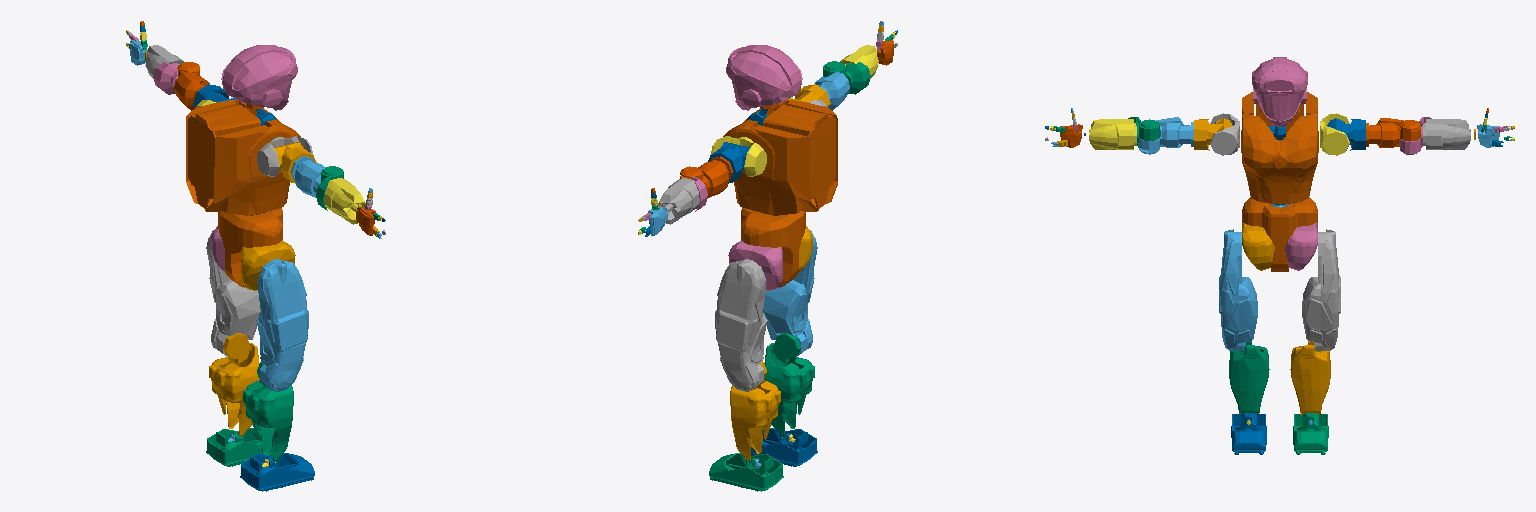
--- Render facts (derived) ---
Views: 3 orthographic renders of the robot side by side, from view 1: azimuth 30°, elevation 25°; view 2: azimuth 150°, elevation 25°; view 3: azimuth 270°, elevation 25°.
Robot: valkyrie — 87 links, 86 joints (30 revolute, 56 fixed); root link pelvis; default pose: all joints at 0.
Visible links, largest first — view 1: torso, rightHipPitchLink, upperNeckPitchLink, leftKneePitchLink, leftHipPitchLink, rightKneePitchLink, pelvis, rightFoot, leftFoot, rightHipRollLink, rightForearmLink, leftShoulderYawLink (+5 smaller); view 2: torso, leftHipPitchLink, upperNeckPitchLink, rightKneePitchLink, rightHipPitchLink, leftKneePitchLink, pelvis, leftFoot, rightFoot, leftHipRollLink, leftForearmLink, leftShoulderYawLink (+5 smaller); view 3: torso, rightHipPitchLink, leftHipPitchLink, upperNeckPitchLink, pelvis, rightKneePitchLink, leftKneePitchLink, leftForearmLink, rightForearmLink, rightFoot, leftFoot, leftShoulderYawLink (+7 smaller).
Boxes of the visible links, x1,y1,x2,y2 form: torso: (186,99,300,215); rightHipPitchLink: (256,259,308,391); upperNeckPitchLink: (221,45,297,110); leftKneePitchLink: (209,333,259,435); leftHipPitchLink: (206,230,260,357); rightKneePitchLink: (243,361,293,460); pelvis: (218,208,282,287); rightFoot: (240,453,314,491); leftFoot: (206,428,272,466); rightHipRollLink: (241,240,295,290); rightForearmLink: (324,178,365,224); leftShoulderYawLink: (174,62,209,110); torso: (723,99,837,215); leftHipPitchLink: (715,259,767,391); upperNeckPitchLink: (726,45,802,110); rightKneePitchLink: (764,333,814,435); rightHipPitchLink: (763,230,817,357); leftKneePitchLink: (730,361,780,460); pelvis: (741,208,805,287); leftFoot: (709,453,783,491); rightFoot: (751,428,817,466); leftHipRollLink: (728,240,782,290); leftForearmLink: (658,178,699,224); leftShoulderYawLink: (680,156,732,197); torso: (1241,92,1318,203); rightHipPitchLink: (1219,229,1257,350); leftHipPitchLink: (1302,229,1340,350); upperNeckPitchLink: (1252,57,1307,126); pelvis: (1242,197,1317,271); rightKneePitchLink: (1229,341,1269,415); leftKneePitchLink: (1290,341,1330,415); leftForearmLink: (1423,119,1470,149); rightForearmLink: (1089,119,1136,149); rightFoot: (1231,413,1266,454); leftFoot: (1293,413,1328,454); leftShoulderYawLink: (1366,118,1420,147).
Bounding box of the posed robot: 0.4375 × 2.09 × 1.88 m (x, y, z).
52 mesh visuals loaded from 58 distinct referenced files (50 binary STL); not drawn: 8 (reference not matched to a file when rendering).

The robot description file, URDF, robot "valkyrie":
<?xml version="1.0" ?>

<!-- ================================================================================================ -->
<!-- Note: This URDF file and associated content are based on files from the GitHub repository below. -->
<!--       Geometry files were converted as necessary to a format supported by Simscape Multibody.    -->
<!--       Adjustments were made to the URDF file for compatibility with Simscape Multibody.          -->
<!--                                                                                                  -->
<!--  GitHub source: https://github.com/RobotLocomotion/drake/tree/3b059f6168c9adce908ac6bbf98e4efdd1af4d6a/ -->
<!-- ================================================================================================ -->

<!-- =================================================================================== -->
<!-- |    This document was autogenerated by xacro from valkyrie_A_sim.xacro           | -->
<!-- |    EDITING THIS FILE BY HAND IS NOT RECOMMENDED                                 | -->
<!-- =================================================================================== -->
<robot name="valkyrie" xmlns:xacro="http://ros.org/wiki/xacro">
  <link name="pelvis">
    <inertial>
      <mass value="8.22"/>
      <origin rpy="0 0 0" xyz="-0.00532 -0.003512 -0.0036"/>
      <inertia ixx="0.11866378" ixy="-0.000143482" ixz="0.003271293" iyy="0.097963425" iyz="0.002159545" izz="0.083854638"/>
    </inertial>
    <visual>
      <geometry>
        <mesh filename="valkyrie_pelvis.stl"/>
      </geometry>
      <material name="">
        <color rgba="0.8 0.4 0.03 1" />
      </material>
      <origin rpy="0.0 0.0 0.0" xyz="0.0 0.0 0.0"/>
    </visual>
    <collision>
      <geometry>
        <mesh filename="package://valkyrie/urdf/model/meshes/pelvis/pelvis.dae"/>
      </geometry>
      <origin rpy="0 0 0" xyz="0 0 0"/>
    </collision>
  </link>
  <link name="torsoYawLink">
    <inertial>
      <mass value="0.5"/>
      <origin rpy="0 0 0" xyz="0.000000 0.000000 -0.010000"/>
      <inertia ixx="0.000608427" ixy="-1.172e-06" ixz="1.647e-06" iyy="0.000620328" iyz="-2.33e-07" izz="0.001078108"/>
    </inertial>
    <visual>
      <geometry>
        <mesh filename="valkyrie_torsoyaw.stl"/>
      </geometry>
      <origin rpy="0.0 0.0 0.0" xyz="0.0 0.0 0.0"/>
    </visual>
    <collision>
      <geometry>
        <mesh filename="package://valkyrie/urdf/model/meshes/torso/torsoyaw.dae"/>
      </geometry>
      <origin rpy="0 0 0" xyz="0 0 0"/>
    </collision>
  </link>
  <link name="torsoPitchLink">
    <inertial>
      <mass value="0.1"/>
      <origin rpy="0 0 0" xyz="0.000000 0.000000  0.005000"/>
      <inertia ixx="3.032e-05" ixy="0.0" ixz="-1.145e-06" iyy="2.1274e-05" iyz="0.0" izz="2.8285e-05"/>
    </inertial>
    <visual>
      <geometry>
        <mesh filename="valkyrie_torsopitch.stl"/>
      </geometry>
      <origin rpy="0.0 0.0 0.0" xyz="0.0 0.0 0.0"/>
    </visual>
    <collision>
      <geometry>
        <mesh filename="package://valkyrie/urdf/model/meshes/torso/torsopitch.dae"/>
      </geometry>
      <origin rpy="0 0 0" xyz="0 0 0"/>
    </collision>
  </link>
  <link name="torso">
    <inertial>
      <mass value="39.47"/>
      <origin rpy="0 0 0" xyz="-0.095548 -0.003337 0.243098"/>
      <inertia ixx="0.87326933" ixy="9.9563e-05" ixz="0.061345211" iyy="1.0108485" iyz="0.00181849" izz="0.77839801"/>
    </inertial>
    <visual>
      <geometry>
        <mesh filename="valkyrie_torso.stl"/>
      </geometry>
      <material name="">
        <color rgba="0.8 0.4 0.03 1" />
      </material>
      <origin rpy="0.0 0.0 0.0" xyz="0.0 0.0 0.0"/>
    </visual>
    <collision>
      <geometry>
        <mesh filename="package://valkyrie/urdf/model/meshes/torso/torso.dae"/>
      </geometry>
      <origin rpy="0 0 0" xyz="0 0 0"/>
    </collision>
  </link>
  <joint name="torsoYaw" type="revolute">
    <origin rpy="0.0 0.0 0.0" xyz="0.0 0.0 0.0"/>
    <axis xyz="0 0 1"/>
    <parent link="pelvis"/>
    <child link="torsoYawLink"/>
    <limit effort="190" lower="-1.329" upper="1.181" velocity="5.89"/>
    <controller_gains Kd="400" Kp="20000"/>
    <dynamics damping="0.1" friction="0.0"/>
  </joint>
  <gazebo reference="torsoYaw">
    <provideFeedback>1</provideFeedback>
    <implicitSpringDamper>1</implicitSpringDamper>
  </gazebo>
  <joint name="torsoPitch" type="revolute">
    <origin rpy="0.0 0.0 0.0" xyz="0.04191 0.0 0.0"/>
    <axis xyz="0 1 0"/>
    <parent link="torsoYawLink"/>
    <child link="torsoPitchLink"/>
    <limit effort="150" lower="-0.13" upper="0.666" velocity="9"/>
    <controller_gains Kd="400" Kp="20000"/>
    <dynamics damping="0.1" friction="0.0"/>
  </joint>
  <gazebo reference="torsoPitch">
    <provideFeedback>1</provideFeedback>
    <implicitSpringDamper>1</implicitSpringDamper>
  </gazebo>
  <joint name="torsoRoll" type="revolute">
    <origin rpy="0.0 0.0 0.0" xyz="0.0 0.0 0.0203"/>
    <axis xyz="1 0 0"/>
    <parent link="torsoPitchLink"/>
    <child link="torso"/>
    <limit effort="150" lower="-0.23" upper="0.255" velocity="9"/>
    <controller_gains Kd="400" Kp="20000"/>
    <dynamics damping="0.1" friction="0.0"/>
  </joint>
  <gazebo reference="torsoRoll">
    <provideFeedback>1</provideFeedback>
    <implicitSpringDamper>1</implicitSpringDamper>
  </gazebo>
  <link name="lowerNeckPitchLink">
    <inertial>
      <mass value="1.05"/>
      <origin rpy="0 0 0" xyz="-0.020000 0.000000  0.040000"/>
      <inertia ixx="0.001470716" ixy="-0.000126021" ixz="0.000632521" iyy="0.001851919" iyz="0.000243012" izz="0.000832117"/>
    </inertial>
    <visual>
      <geometry>
        <mesh filename="valkyrie_neckj1.stl"/>
      </geometry>
      <origin rpy="0.0 0.0 0.0" xyz="0.0 0.0 0.0"/>
    </visual>
    <collision>
      <geometry>
        <mesh filename="package://valkyrie/urdf/model/meshes/head/neckj1.dae"/>
      </geometry>
      <origin rpy="0 0 0" xyz="0 0 0"/>
    </collision>
  </link>
  <link name="neckYawLink">
    <inertial>
      <mass value="1.4"/>
      <origin rpy="0 0 0" xyz="-0.030000  -0.010000 0.150000"/>
      <inertia ixx="0.001997698" ixy="-0.000180062" ixz="0.000723677" iyy="0.002919928" iyz="0.000246467" izz="0.002119751"/>
    </inertial>
    <visual>
      <geometry>
        <mesh filename="valkyrie_neckj2.stl"/>
      </geometry>
      <origin rpy="0.0 0.0 0.0" xyz="0.0 0.0 0.0"/>
    </visual>
    <collision>
      <geometry>
        <mesh filename="package://valkyrie/urdf/model/meshes/head/neckj2.dae"/>
      </geometry>
      <origin rpy="0 0 0" xyz="0 0 0"/>
    </collision>
  </link>
  <link name="upperNeckPitchLink">
    <inertial>
      <mass value="4.59"/>
      <origin rpy="0 0 0" xyz="0.100912 0.005783 0.034787"/>
      <inertia ixx="0.039847525" ixy="-0.000470418" ixz="-0.002829842" iyy="0.041418564" iyz="-0.000782564" izz="0.036841236"/>
    </inertial>
    <visual>
      <geometry>
        <mesh filename="valkyrie_head_multisense.stl"/>
      </geometry>
      <origin rpy="0.0 0.0 0.0" xyz="0.0 0.0 0.0"/>
    </visual>
    <collision>
      <geometry>
        <mesh filename="package://valkyrie/urdf/model/meshes/head/head_multisense_no_visor.dae"/>
      </geometry>
      <origin rpy="0 0 0" xyz="0 0 0"/>
    </collision>
  </link>
  <joint name="lowerNeckPitch" type="revolute">
    <origin rpy="0.0 0.0 0.0" xyz="0.0203518 0.0 0.33845"/>
    <axis xyz="0 1 0"/>
    <parent link="torso"/>
    <child link="lowerNeckPitchLink"/>
    <limit effort="26" lower="0" upper="1.162" velocity="5"/>
    <controller_gains Kd="0" Kp="20000"/>
    <dynamics damping="0.1" friction="0.0"/>
  </joint>
  <gazebo reference="lowerNeckPitch">
    <provideFeedback>1</provideFeedback>
    <implicitSpringDamper>1</implicitSpringDamper>
  </gazebo>
  <joint name="neckYaw" type="fixed">
    <origin rpy="0.0 0.0 0.0" xyz="-0.051924 0.0 0.0"/>
    <axis xyz="0 0 1"/>
    <parent link="lowerNeckPitchLink"/>
    <child link="neckYawLink"/>
    <limit effort="26" lower="-1.04719755" upper="1.04719755" velocity="5"/>
    <controller_gains Kd="0" Kp="20000"/>
    <dynamics damping="0.1" friction="0.0"/>
  </joint>
  <gazebo reference="neckYaw">
    <provideFeedback>1</provideFeedback>
    <implicitSpringDamper>1</implicitSpringDamper>
  </gazebo>
  <joint name="upperNeckPitch" type="fixed">
    <origin rpy="0.0 0.0 0.0" xyz="-0.06 0 0.195997"/>
    <axis xyz="0 1 0"/>
    <parent link="neckYawLink"/>
    <child link="upperNeckPitchLink"/>
    <limit effort="26" lower="-0.872" upper="0.0" velocity="5"/>
    <controller_gains Kd="0" Kp="20000"/>
    <dynamics damping="0.1" friction="0.0"/>
  </joint>
  <gazebo reference="upperNeckPitch">
    <provideFeedback>1</provideFeedback>
    <implicitSpringDamper>1</implicitSpringDamper>
  </gazebo>
  <link name="rightShoulderPitchLink">
    <inertial>
      <mass value="2.65"/>
      <origin rpy="0 0 0" xyz="-0.012000 -0.251 0.000000"/>
      <inertia ixx="0.013718167" ixy="0.0" ixz="0.0" iyy="0.010502833" iyz="0.0" izz="0.014806433"/>
    </inertial>
    <visual>
      <geometry>
        <mesh filename="valkyrie_aj1_right.stl"/>
      </geometry>
      <origin rpy="0.0 0.0 0.0" xyz="0.0 0.0 0.0"/>
    </visual>
    <collision>
      <geometry>
        <mesh filename="package://valkyrie/urdf/model/meshes/arms/aj1_right.dae"/>
      </geometry>
      <origin rpy="0 0 0" xyz="0 0 0"/>
    </collision>
  </link>
  <link name="rightShoulderRollLink">
    <inertial>
      <mass value="3.97"/>
      <origin rpy="0 0 0" xyz="-0.008513 -0.02068 0.001088"/>
      <inertia ixx="0.009494119" ixy="-6.7294e-05" ixz="3.7177e-05" iyy="0.007680534" iyz="8.874e-06" izz="0.011454772"/>
    </inertial>
    <visual>
      <geometry>
        <mesh filename="valkyrie_aj2_right.stl"/>
      </geometry>
      <origin rpy="0.0 0.0 0.0" xyz="0.0 0.0 0.0"/>
    </visual>
    <collision>
      <geometry>
        <mesh filename="package://valkyrie/urdf/model/meshes/arms/aj2_right.dae"/>
      </geometry>
      <origin rpy="0 0 0" xyz="0 0 0"/>
    </collision>
  </link>
  <link name="rightShoulderYawLink">
    <inertial>
      <mass value="3.085"/>
      <origin rpy="0 0 0" xyz="-0.004304 -0.209832 -0.007295"/>
      <inertia ixx="0.039355177" ixy="0.007827077" ixz="0.000753947" iyy="0.004905765" iyz="0.002723873" izz="0.041879481"/>
    </inertial>
    <visual>
      <geometry>
        <mesh filename="valkyrie_aj3_right.stl"/>
      </geometry>
      <origin rpy="0.0 0.0 0.0" xyz="0.0 0.0 0.0"/>
    </visual>
    <collision>
      <geometry>
        <mesh filename="package://valkyrie/urdf/model/meshes/arms/aj3_right.dae"/>
      </geometry>
      <origin rpy="0 0 0" xyz="0 0 0"/>
    </collision>
  </link>
  <link name="rightElbowPitchLink">
    <inertial>
      <mass value="1.83"/>
      <origin rpy="0 0 0" xyz="-0.020344 -0.014722 -0.022300"/>
      <inertia ixx="0.004285137" ixy="0.000408334" ixz="-0.003326627" iyy="0.008440601" iyz="0.000140731" izz="0.007469454"/>
    </inertial>
    <visual>
      <geometry>
        <mesh filename="valkyrie_aj4_right.stl"/>
      </geometry>
      <origin rpy="0.0 0.0 0.0" xyz="0.0 0.0 0.0"/>
    </visual>
    <collision>
      <geometry>
        <mesh filename="package://valkyrie/urdf/model/meshes/arms/aj4_right.dae"/>
      </geometry>
      <origin rpy="0 0 0" xyz="0 0 0"/>
    </collision>
  </link>
  <joint name="rightShoulderPitch" type="revolute">
    <origin rpy="0.0 0.0 0.0" xyz="-0.0316 0.0 0.2984"/>
    <axis xyz="0 1 0"/>
    <parent link="torso"/>
    <child link="rightShoulderPitchLink"/>
    <limit effort="190" lower="-2.85" upper="2.0" velocity="5.89"/>
    <controller_gains Kd="400" Kp="20000"/>
    <dynamics damping="0.1" friction="0.0"/>
  </joint>
  <gazebo reference="rightShoulderPitch">
    <provideFeedback>1</provideFeedback>
    <implicitSpringDamper>1</implicitSpringDamper>
  </gazebo>
  <joint name="rightShoulderRoll" type="revolute">
    <origin rpy="0.0 0.0 0.0" xyz="0.0 -0.2499 0.0"/>
    <axis xyz="1 0 0"/>
    <parent link="rightShoulderPitchLink"/>
    <child link="rightShoulderRollLink"/>
    <limit effort="190" lower="-1.266" upper="1.519" velocity="5.89"/>
    <controller_gains Kd="400" Kp="20000"/>
    <dynamics damping="0.1" friction="0.0"/>
  </joint>
  <gazebo reference="rightShoulderRoll">
    <provideFeedback>1</provideFeedback>
    <implicitSpringDamper>1</implicitSpringDamper>
  </gazebo>
  <joint name="rightShoulderYaw" type="revolute">
    <origin rpy="0.0 0.0 0.0" xyz="0.0 0.0 0.0"/>
    <axis xyz="0 1 0"/>
    <parent link="rightShoulderRollLink"/>
    <child link="rightShoulderYawLink"/>
    <limit effort="65" lower="-3.1" upper="2.18" velocity="11.5"/>
    <controller_gains Kd="400" Kp="20000"/>
    <dynamics damping="0.1" friction="0.0"/>
  </joint>
  <gazebo reference="rightShoulderYaw">
    <provideFeedback>1</provideFeedback>
    <implicitSpringDamper>1</implicitSpringDamper>
  </gazebo>
  <joint name="rightElbowPitch" type="revolute">
    <origin rpy="0.0 0.0 0.0" xyz="0.0254 -0.33 0.0"/>
    <axis xyz="0 0 1"/>
    <parent link="rightShoulderYawLink"/>
    <child link="rightElbowPitchLink"/>
    <limit effort="65" lower="-0.12" upper="2.174" velocity="11.5"/>
    <controller_gains Kd="400" Kp="20000"/>
    <dynamics damping="0.1" friction="0.0"/>
  </joint>
  <gazebo reference="rightElbowPitch">
    <provideFeedback>1</provideFeedback>
    <implicitSpringDamper>1</implicitSpringDamper>
  </gazebo>
  <link name="rightForearmLink">
    <inertial>
      <mass value="2.476"/>
      <origin rpy="0 0 0" xyz="0.015000 -0.13 0.019564"/>
      <inertia ixx="0.015011" ixy="-0.001300853" ixz="-0.000727141" iyy="0.005071567" iyz="-0.001695416" izz="0.011365657"/>
    </inertial>
    <visual>
      <geometry>
        <mesh filename="valkyrie_aj5_right.stl"/>
      </geometry>
      <origin rpy="0.0 0.0 0.0" xyz="0.0 0.0 0.0"/>
    </visual>
    <collision>
      <geometry>
        <mesh filename="package://valkyrie/urdf/model/meshes/arms/aj5_right.dae"/>
      </geometry>
      <origin rpy="0 0 0" xyz="0 0 0"/>
    </collision>
  </link>
  <link name="rightWristRollLink">
    <inertial>
      <mass value="0.14"/>
      <origin rpy="0 0 0" xyz="0 -0.0 0"/>
      <inertia ixx="3.0251e-05" ixy="-1.25e-07" ixz="-3.6e-08" iyy="3.772e-05" iyz="0.0" izz="9.395e-06"/>
    </inertial>
    <visual>
      <geometry>
        <mesh filename="valkyrie_aj6_right.stl"/>
      </geometry>
      <origin rpy="0.0 0.0 0.0" xyz="0.0 0.0 0.0"/>
    </visual>
    <collision>
      <geometry>
        <mesh filename="package://valkyrie/urdf/model/meshes/arms/aj6_right.dae"/>
      </geometry>
      <origin rpy="0 0 0" xyz="0 0 0"/>
    </collision>
  </link>
  <link name="rightPalm">
    <inertial>
      <mass value="0.712"/>
      <origin rpy="0 0 0" xyz="0.002954 -0.052034 -0.000236"/>
      <inertia ixx="0.000943493" ixy="3.4393e-05" ixz="-3.8828e-05" iyy="0.000711024" iyz="2.3429e-05" izz="0.000610199"/>
    </inertial>
    <visual>
      <geometry>
        <mesh filename="valkyrie_palm_right.stl"/>
      </geometry>
      <origin rpy="0.0 0.0 0.0" xyz="0.0 0.0 0.0"/>
    </visual>
    <collision>
      <geometry>
        <mesh filename="package://valkyrie/urdf/model/meshes/arms/palm_right.dae"/>
      </geometry>
      <origin rpy="0 0 0" xyz="0 0 0"/>
    </collision>
  </link>
  <joint name="rightForearmYaw" type="revolute">
    <origin rpy="0.0 0.0 0.0" xyz="-0.0254 0 0"/>
    <axis xyz="0 1 0"/>
    <parent link="rightElbowPitchLink"/>
    <child link="rightForearmLink"/>
    <limit effort="26" lower="-2.019" upper="3.14" velocity="5"/>
    <controller_gains Kd="0" Kp="20000"/>
    <dynamics damping="0.1" friction="0.0"/>
  </joint>
  <gazebo reference="rightForearmYaw">
    <provideFeedback>1</provideFeedback>
    <implicitSpringDamper>1</implicitSpringDamper>
  </gazebo>
  <joint name="rightWristRoll" type="revolute">
    <origin rpy="0.0 0.0 0.0" xyz="0.0 -0.2871 0.0"/>
    <axis xyz="1 0 0"/>
    <parent link="rightForearmLink"/>
    <child link="rightWristRollLink"/>
    <limit effort="14" lower="-0.625" upper="0.62" velocity="1"/>
    <controller_gains Kd="400" Kp="20000"/>
    <dynamics damping="0.1" friction="0.0"/>
  </joint>
  <gazebo reference="rightWristRoll">
    <provideFeedback>1</provideFeedback>
    <implicitSpringDamper>1</implicitSpringDamper>
  </gazebo>
  <joint name="rightWristPitch" type="revolute">
    <origin rpy="0.0 0.0 0.0" xyz="0.0 0.0 0.0"/>
    <axis xyz="0 0 1"/>
    <parent link="rightWristRollLink"/>
    <child link="rightPalm"/>
    <limit effort="14" lower="-0.49" upper="0.36" velocity="1"/>
    <controller_gains Kd="400" Kp="20000"/>
    <dynamics damping="0.1" friction="0.0"/>
  </joint>
  <gazebo reference="rightWristPitch">
    <provideFeedback>1</provideFeedback>
    <implicitSpringDamper>1</implicitSpringDamper>
  </gazebo>
  <link name="rightThumbRollLink">
    <inertial>
      <mass value="0.017"/>
      <origin rpy="0 0 0" xyz="0 -0.0 0.01"/>
      <inertia ixx="2.7778767e-06" ixy="5.6718533e-09" ixz="-9.5523207e-08" iyy="3.5462642e-06" iyz="3.663718e-08" izz="1.3553297e-06"/>
    </inertial>
    <visual>
      <geometry>
        <mesh filename="valkyrie_thumbj1_right.stl"/>
      </geometry>
      <origin rpy="0.0 0.0 0.0" xyz="0.0 0.0 0.0"/>
    </visual>
    <collision>
      <geometry>
        <mesh filename="package://valkyrie/urdf/model/meshes/fingers/thumbj1_right.dae"/>
      </geometry>
      <origin rpy="0 0 0" xyz="0 0 0"/>
    </collision>
  </link>
  <link name="rightThumbPitch1Link">
    <inertial>
      <mass value="0.02"/>
      <origin rpy="0 0 0" xyz="0.0 -0.005 0.02"/>
      <inertia ixx="4.239e-06" ixy="0.0" ixz="-0.0" iyy="4.582e-06" iyz="0.0" izz="1.47e-06"/>
    </inertial>
    <visual>
      <geometry>
        <mesh filename="valkyrie_thumbj2_right.stl"/>
      </geometry>
      <origin rpy="0.0 0.0 0.0" xyz="0.0 0.0 0.0"/>
    </visual>
    <collision>
      <geometry>
        <mesh filename="package://valkyrie/urdf/model/meshes/fingers/thumbj2_right.dae"/>
      </geometry>
      <origin rpy="0 0 0" xyz="0 0 0"/>
    </collision>
  </link>
  <link name="rightThumbPitch2Link">
    <inertial>
      <mass value="0.013"/>
      <origin rpy="0 0 0" xyz="0 -0.004 0.017"/>
      <inertia ixx="1.266e-06" ixy="0.0" ixz="-0.0" iyy="1.503e-06" iyz="-0.0" izz="6.99e-07"/>
    </inertial>
    <visual>
      <geometry>
        <mesh filename="valkyrie_thumbj3_right.stl"/>
      </geometry>
      <origin rpy="0.0 0.0 0.0" xyz="0.0 0.0 0.0"/>
    </visual>
    <collision>
      <geometry>
        <mesh filename="package://valkyrie/urdf/model/meshes/fingers/thumbj3_right.dae"/>
      </geometry>
      <origin rpy="0 0 0" xyz="0 0 0"/>
    </collision>
  </link>
  <link name="rightThumbPitch3Link">
    <inertial>
      <mass value="0.006"/>
      <origin rpy="0 0 0" xyz="0 -0.004 0.01"/>
      <inertia ixx="3.22e-07" ixy="0.0" ixz="0.0" iyy="4.06e-07" iyz="0.0" izz="2.1e-07"/>
    </inertial>
    <visual>
      <geometry>
        <mesh filename="valkyrie_thumbj4_right.stl"/>
      </geometry>
      <origin rpy="0.0 0.0 0.0" xyz="0.0 0.0 0.0"/>
    </visual>
    <collision>
      <geometry>
        <mesh filename="package://valkyrie/urdf/model/meshes/fingers/thumbj4_right.dae"/>
      </geometry>
      <origin rpy="0 0 0" xyz="0 0 0"/>
    </collision>
  </link>
  <joint name="rightThumbRoll" type="fixed">
    <origin rpy="0.3491 0.0 0.0" xyz="0.0049 -0.0351 0.0228"/>
    <axis xyz="0 0 1"/>
    <parent link="rightPalm"/>
    <child link="rightThumbRollLink"/>
  </joint>
  <gazebo reference="rightThumbRoll">
    <implicitSpringDamper>1</implicitSpringDamper>
  </gazebo>
  <joint name="rightThumbPitch1" type="fixed">
    <origin rpy="-0.3491 0.0 0.0" xyz="0.0 0.0 0.0229"/>
    <axis xyz="0 0 1"/>
    <parent link="rightThumbRollLink"/>
    <child link="rightThumbPitch1Link"/>
  </joint>
  <gazebo reference="rightThumbPitch1">
    <implicitSpringDamper>1</implicitSpringDamper>
  </gazebo>
  <joint name="rightThumbPitch2" type="fixed">
    <origin rpy="0.0 0.0 0.0" xyz="0.0 -0.0066 0.0375"/>
    <axis xyz="0 0 1"/>
    <parent link="rightThumbPitch1Link"/>
    <child link="rightThumbPitch2Link"/>
  </joint>
  <gazebo reference="rightThumbPitch2">
    <implicitSpringDamper>1</implicitSpringDamper>
  </gazebo>
  <joint name="rightThumbPitch3" type="fixed">
    <origin rpy="0.0 0.0 0.0" xyz="0.0 -0.0049 0.0275"/>
    <axis xyz="0 0 1"/>
    <parent link="rightThumbPitch2Link"/>
    <child link="rightThumbPitch3Link"/>
  </joint>
  <gazebo reference="rightThumbPitch3">
    <implicitSpringDamper>1</implicitSpringDamper>
  </gazebo>
  <link name="rightIndexFingerPitch1Link">
    <inertial>
      <mass value="0.02"/>
      <origin rpy="0 0 0" xyz="0 -0.02 0"/>
      <inertia ixx="4.232e-06" ixy="-6e-08" ixz="-8e-09" iyy="1.215e-06" iyz="-7e-09" izz="3.892e-06"/>
    </inertial>
    <visual>
      <geometry>
        <mesh filename="valkyrie_indexj1_right.stl"/>
      </geometry>
      <origin rpy="0.0 0.0 0.0" xyz="0.0 0.0 0.0"/>
    </visual>
    <collision>
      <geometry>
        <mesh filename="package://valkyrie/urdf/model/meshes/fingers/indexj1_right.dae"/>
      </geometry>
      <origin rpy="0 0 0" xyz="0 0 0"/>
    </collision>
  </link>
  <link name="rightIndexFingerPitch2Link">
    <inertial>
      <mass value="0.018"/>
      <origin rpy="0 0 0" xyz="0 -0.013 0"/>
      <inertia ixx="1.562e-06" ixy="-1.7e-08" ixz="-1.3e-08" iyy="7.22e-07" iyz="3.1e-08" izz="1.255e-06"/>
    </inertial>
    <visual>
      <geometry>
        <mesh filename="valkyrie_indexj2_right.stl"/>
      </geometry>
      <origin rpy="0.0 0.0 0.0" xyz="0.0 0.0 0.0"/>
    </visual>
    <collision>
      <geometry>
        <mesh filename="package://valkyrie/urdf/model/meshes/fingers/indexj2_right.dae"/>
      </geometry>
      <origin rpy="0 0 0" xyz="0 0 0"/>
    </collision>
  </link>
  <link name="rightIndexFingerPitch3Link">
    <inertial>
      <mass value="0.01"/>
      <origin rpy="0 0 0" xyz="0 -0.01 0"/>
      <inertia ixx="6.02e-07" ixy="-2.4e-08" ixz="0.0" iyy="2.09e-07" iyz="1.7e-08" izz="5.02e-07"/>
    </inertial>
    <visual>
      <geometry>
        <mesh filename="valkyrie_indexj3_right.stl"/>
      </geometry>
      <origin rpy="0.0 0.0 0.0" xyz="0.0 0.0 0.0"/>
    </visual>
    <collision>
      <geometry>
        <mesh filename="package://valkyrie/urdf/model/meshes/fingers/indexj3_right.dae"/>
      </geometry>
      <origin rpy="0 0 0" xyz="0 0 0"/>
    </collision>
  </link>
  <joint name="rightIndexFingerPitch1" type="fixed">
    <origin rpy="-0.1745 0.0 0.0" xyz="0.0022 -0.0976 0.0235"/>
    <axis xyz="0 0 1"/>
    <parent link="rightPalm"/>
    <child link="rightIndexFingerPitch1Link"/>
  </joint>
  <gazebo reference="rightIndexFingerPitch1">
    <implicitSpringDamper>1</implicitSpringDamper>
  </gazebo>
  <joint name="rightIndexFingerPitch2" type="fixed">
    <origin rpy="0.0 0.0 0.0" xyz="0.0 -0.0381 0.0"/>
    <axis xyz="0 0 1"/>
    <parent link="rightIndexFingerPitch1Link"/>
    <child link="rightIndexFingerPitch2Link"/>
  </joint>
  <gazebo reference="rightIndexFingerPitch2">
    <implicitSpringDamper>1</implicitSpringDamper>
  </gazebo>
  <joint name="rightIndexFingerPitch3" type="fixed">
    <origin rpy="0.0 0.0 0.0" xyz="0.0 -0.0229 0"/>
    <axis xyz="0 0 1"/>
    <parent link="rightIndexFingerPitch2Link"/>
    <child link="rightIndexFingerPitch3Link"/>
  </joint>
  <gazebo reference="rightIndexFingerPitch3">
    <implicitSpringDamper>1</implicitSpringDamper>
  </gazebo>
  <link name="rightMiddleFingerPitch1Link">
    <inertial>
      <mass value="0.02"/>
      <origin rpy="0 0 0" xyz="0 -0.02 0"/>
      <inertia ixx="5.148e-06" ixy="-4.2e-08" ixz="-1.1e-08" iyy="1.322e-06" iyz="-4e-09" izz="4.592e-06"/>
    </inertial>
    <visual>
      <geometry>
        <mesh filename="valkyrie_middlej1_right.stl"/>
      </geometry>
      <origin rpy="0.0 0.0 0.0" xyz="0.0 0.0 0.0"/>
    </visual>
    <collision>
      <geometry>
        <mesh filename="package://valkyrie/urdf/model/meshes/fingers/middlej1_right.dae"/>
      </geometry>
      <origin rpy="0 0 0" xyz="0 0 0"/>
    </collision>
  </link>
  <link name="rightMiddleFingerPitch2Link">
    <inertial>
      <mass value="0.011"/>
      <origin rpy="0 0 0" xyz="0 -0.013 0"/>
      <inertia ixx="1.97e-06" ixy="3.4e-08" ixz="-1.1e-08" iyy="5.54e-07" iyz="-7.8e-08" izz="2.272e-06"/>
    </inertial>
    <visual>
      <geometry>
        <mesh filename="valkyrie_middlej2_right.stl"/>
      </geometry>
      <origin rpy="0.0 0.0 0.0" xyz="0.0 0.0 0.0"/>
    </visual>
    <collision>
      <geometry>
        <mesh filename="package://valkyrie/urdf/model/meshes/fingers/middlej2_right.dae"/>
      </geometry>
      <origin rpy="0 0 0" xyz="0 0 0"/>
    </collision>
  </link>
  <link name="rightMiddleFingerPitch3Link">
    <inertial>
      <mass value="0.006"/>
      <origin rpy="0 0 0" xyz="0 -0.01 0"/>
      <inertia ixx="3.96e-07" ixy="-9e-09" ixz="-1e-09" iyy="1.6e-07" iyz="1.6e-08" izz="3.03e-07"/>
    </inertial>
    <visual>
      <geometry>
        <mesh filename="valkyrie_middlej3_right.stl"/>
      </geometry>
      <origin rpy="0.0 0.0 0.0" xyz="0.0 0.0 0.0"/>
    </visual>
    <collision>
      <geometry>
        <mesh filename="package://valkyrie/urdf/model/meshes/fingers/middlej3_right.dae"/>
      </geometry>
      <origin rpy="0 0 0" xyz="0 0 0"/>
    </collision>
  </link>
  <joint name="rightMiddleFingerPitch1" type="fixed">
    <origin rpy="0.1222 0.0 0.0" xyz="0.0022 -0.097 -0.0119"/>
    <axis xyz="0 0 1"/>
    <parent link="rightPalm"/>
    <child link="rightMiddleFingerPitch1Link"/>
  </joint>
  <gazebo reference="rightMiddleFingerPitch1">
    <implicitSpringDamper>1</implicitSpringDamper>
  </gazebo>
  <joint name="rightMiddleFingerPitch2" type="fixed">
    <origin rpy="0.0 0.0 0.0" xyz="0.0 -0.0381 0.0"/>
    <axis xyz="0 0 1"/>
    <parent link="rightMiddleFingerPitch1Link"/>
    <child link="rightMiddleFingerPitch2Link"/>
  </joint>
  <gazebo reference="rightMiddleFingerPitch2">
    <implicitSpringDamper>1</implicitSpringDamper>
  </gazebo>
  <joint name="rightMiddleFingerPitch3" type="fixed">
    <origin rpy="0.0 0.0 0.0" xyz="0.0 -0.0229 0.0"/>
    <axis xyz="0 0 1"/>
    <parent link="rightMiddleFingerPitch2Link"/>
    <child link="rightMiddleFingerPitch3Link"/>
  </joint>
  <gazebo reference="rightMiddleFingerPitch3">
    <implicitSpringDamper>1</implicitSpringDamper>
  </gazebo>
  <link name="rightPinkyPitch1Link">
    <inertial>
      <mass value="0.02"/>
      <origin rpy="0 0 0" xyz="0 -0.02 0"/>
      <inertia ixx="5.148e-06" ixy="-4.2e-08" ixz="-1.1e-08" iyy="1.322e-06" iyz="-4e-09" izz="4.592e-06"/>
    </inertial>
    <visual>
      <geometry>
        <mesh filename="valkyrie_pinkyj1_right.stl"/>
      </geometry>
      <origin rpy="0.0 0.0 0.0" xyz="0.0 0.0 0.0"/>
    </visual>
    <collision>
      <geometry>
        <mesh filename="package://valkyrie/urdf/model/meshes/fingers/pinkyj1_right.dae"/>
      </geometry>
      <origin rpy="0 0 0" xyz="0 0 0"/>
    </collision>
  </link>
  <link name="rightPinkyPitch2Link">
    <inertial>
      <mass value="0.011"/>
      <origin rpy="0 0 0" xyz="0 -0.013 0"/>
      <inertia ixx="1.97e-06" ixy="3.4e-08" ixz="-1.1e-08" iyy="5.54e-07" iyz="-7.8e-08" izz="2.272e-06"/>
    </inertial>
    <visual>
      <geometry>
        <mesh filename="valkyrie_pinkyj2_right.stl"/>
      </geometry>
      <origin rpy="0.0 0.0 0.0" xyz="0.0 0.0 0.0"/>
    </visual>
    <collision>
      <geometry>
        <mesh filename="package://valkyrie/urdf/model/meshes/fingers/pinkyj2_right.dae"/>
      </geometry>
      <origin rpy="0 0 0" xyz="0 0 0"/>
    </collision>
  </link>
  <link name="rightPinkyPitch3Link">
    <inertial>
      <mass value="0.006"/>
      <origin rpy="0 0 0" xyz="0 -0.01 0"/>
      <inertia ixx="3.96e-07" ixy="-9e-09" ixz="-1e-09" iyy="1.6e-07" iyz="1.6e-08" izz="3.03e-07"/>
    </inertial>
    <visual>
      <geometry>
        <mesh filename="valkyrie_pinkyj3_right.stl"/>
      </geometry>
      <origin rpy="0.0 0.0 0.0" xyz="0.0 0.0 0.0"/>
    </visual>
    <collision>
      <geometry>
        <mesh filename="package://valkyrie/urdf/model/meshes/fingers/pinkyj3_right.dae"/>
      </geometry>
      <origin rpy="0 0 0" xyz="0 0 0"/>
    </collision>
  </link>
  <joint name="rightPinkyPitch1" type="fixed">
    <origin rpy="0.1222 0.0 0.0" xyz="0.0022 -0.0838 -0.041"/>
    <axis xyz="0 0 1"/>
    <parent link="rightPalm"/>
    <child link="rightPinkyPitch1Link"/>
  </joint>
  <gazebo reference="rightPinkyPitch1">
    <implicitSpringDamper>1</implicitSpringDamper>
  </gazebo>
  <joint name="rightPinkyPitch2" type="fixed">
    <origin rpy="0.0 0.0 0.0" xyz="0.0 -0.0381 0.0"/>
    <axis xyz="0 0 1"/>
    <parent link="rightPinkyPitch1Link"/>
    <child link="rightPinkyPitch2Link"/>
  </joint>
  <gazebo reference="rightPinkyPitch2">
    <implicitSpringDamper>1</implicitSpringDamper>
  </gazebo>
  <joint name="rightPinkyPitch3" type="fixed">
    <origin rpy="0.0 0.0 0.0" xyz="0.0 -0.0229 0.0"/>
    <axis xyz="0 0 1"/>
    <parent link="rightPinkyPitch2Link"/>
    <child link="rightPinkyPitch3Link"/>
  </joint>
  <gazebo reference="rightPinkyPitch3">
    <implicitSpringDamper>1</implicitSpringDamper>
  </gazebo>
  <link name="leftShoulderPitchLink">
    <inertial>
      <mass value="2.65"/>
      <origin rpy="0 0 0" xyz="-0.012000 0.251 0.000000"/>
      <inertia ixx="0.013718167" ixy="0.0" ixz="0.0" iyy="0.010502833" iyz="0.0" izz="0.014806433"/>
    </inertial>
    <visual>
      <geometry>
        <mesh filename="valkyrie_aj1_left.stl"/>
      </geometry>
      <origin rpy="0.0 0.0 0.0" xyz="0.0 0.0 0.0"/>
    </visual>
    <collision>
      <geometry>
        <mesh filename="package://valkyrie/urdf/model/meshes/arms/aj1_left.dae"/>
      </geometry>
      <origin rpy="0 0 0" xyz="0 0 0"/>
    </collision>
  </link>
  <link name="leftShoulderRollLink">
    <inertial>
      <mass value="3.97"/>
      <origin rpy="0 0 0" xyz="-0.008513 0.02068 0.001088"/>
      <inertia ixx="0.009494119" ixy="6.7294e-05" ixz="-3.7177e-05" iyy="0.007680534" iyz="8.874e-06" izz="0.011454772"/>
    </inertial>
    <visual>
      <geometry>
        <mesh filename="valkyrie_aj2_left.stl"/>
      </geometry>
      <origin rpy="0.0 0.0 0.0" xyz="0.0 0.0 0.0"/>
    </visual>
    <collision>
      <geometry>
        <mesh filename="package://valkyrie/urdf/model/meshes/arms/aj2_left.dae"/>
      </geometry>
      <origin rpy="0 0 0" xyz="0 0 0"/>
    </collision>
  </link>
  <link name="leftShoulderYawLink">
    <inertial>
      <mass value="3.085"/>
      <origin rpy="0 0 0" xyz="-0.004304 0.209832 -0.007295"/>
      <inertia ixx="0.039355177" ixy="0.007827077" ixz="-0.000753947" iyy="0.004905765" iyz="-0.002723873" izz="0.041879481"/>
    </inertial>
    <visual>
      <geometry>
        <mesh filename="valkyrie_aj3_left.stl"/>
      </geometry>
      <origin rpy="0.0 0.0 0.0" xyz="0.0 0.0 0.0"/>
    </visual>
    <collision>
      <geometry>
        <mesh filename="package://valkyrie/urdf/model/meshes/arms/aj3_left.dae"/>
      </geometry>
      <origin rpy="0 0 0" xyz="0 0 0"/>
    </collision>
  </link>
  <link name="leftElbowPitchLink">
    <inertial>
      <mass value="1.83"/>
      <origin rpy="0 0 0" xyz="-0.020344 0.014722 -0.022300"/>
      <inertia ixx="0.004285137" ixy="-0.000408334" ixz="0.003326627" iyy="0.008440601" iyz="0.000140731" izz="0.007469454"/>
    </inertial>
    <visual>
      <geometry>
        <mesh filename="valkyrie_aj4_left.stl"/>
      </geometry>
      <origin rpy="0.0 0.0 0.0" xyz="0.0 0.0 0.0"/>
    </visual>
    <collision>
      <geometry>
        <mesh filename="package://valkyrie/urdf/model/meshes/arms/aj4_left.dae"/>
      </geometry>
      <origin rpy="0 0 0" xyz="0 0 0"/>
    </collision>
  </link>
  <joint name="leftShoulderPitch" type="revolute">
    <origin rpy="0.0 0.0 0.0" xyz="-0.0316 0.0 0.2984"/>
    <axis xyz="0 1 0"/>
    <parent link="torso"/>
    <child link="leftShoulderPitchLink"/>
    <limit effort="190" lower="-2.85" upper="2.0" velocity="5.89"/>
    <controller_gains Kd="400" Kp="20000"/>
    <dynamics damping="0.1" friction="0.0"/>
  </joint>
  <gazebo reference="leftShoulderPitch">
    <provideFeedback>1</provideFeedback>
    <implicitSpringDamper>1</implicitSpringDamper>
  </gazebo>
  <joint name="leftShoulderRoll" type="revolute">
    <origin rpy="0.0 0.0 0.0" xyz="0.0 0.2499 0.0"/>
    <axis xyz="1 0 0"/>
    <parent link="leftShoulderPitchLink"/>
    <child link="leftShoulderRollLink"/>
    <limit effort="190" lower="-1.519" upper="1.266" velocity="5.89"/>
    <controller_gains Kd="400" Kp="20000"/>
    <dynamics damping="0.1" friction="0.0"/>
  </joint>
  <gazebo reference="leftShoulderRoll">
    <provideFeedback>1</provideFeedback>
    <implicitSpringDamper>1</implicitSpringDamper>
  </gazebo>
  <joint name="leftShoulderYaw" type="revolute">
    <origin rpy="0.0 0.0 0.0" xyz="0.0 0.0 0.0"/>
    <axis xyz="0 1 0"/>
    <parent link="leftShoulderRollLink"/>
    <child link="leftShoulderYawLink"/>
    <limit effort="65" lower="-3.1" upper="2.18" velocity="11.5"/>
    <controller_gains Kd="400" Kp="20000"/>
    <dynamics damping="0.1" friction="0.0"/>
  </joint>
  <gazebo reference="leftShoulderYaw">
    <provideFeedback>1</provideFeedback>
    <implicitSpringDamper>1</implicitSpringDamper>
  </gazebo>
  <joint name="leftElbowPitch" type="revolute">
    <origin rpy="0.0 0.0 0.0" xyz="0.0254 0.33 0.0"/>
    <axis xyz="0 0 1"/>
    <parent link="leftShoulderYawLink"/>
    <child link="leftElbowPitchLink"/>
    <limit effort="65" lower="-2.174" upper="0.12" velocity="11.5"/>
    <controller_gains Kd="400" Kp="20000"/>
    <dynamics damping="0.1" friction="0.0"/>
  </joint>
  <gazebo reference="leftElbowPitch">
    <provideFeedback>1</provideFeedback>
    <implicitSpringDamper>1</implicitSpringDamper>
  </gazebo>
  <link name="leftForearmLink">
    <inertial>
      <mass value="2.476"/>
      <origin rpy="0 0 0" xyz="0.015000 0.13 0.019564"/>
      <inertia ixx="0.015011" ixy="0.001300853" ixz="0.000727141" iyy="0.005071567" iyz="-0.001695416" izz="0.011365657"/>
    </inertial>
    <visual>
      <geometry>
        <mesh filename="valkyrie_aj5_left.stl"/>
      </geometry>
      <origin rpy="0.0 0.0 0.0" xyz="0.0 0.0 0.0"/>
    </visual>
    <collision>
      <geometry>
        <mesh filename="package://valkyrie/urdf/model/meshes/arms/aj5_left.dae"/>
      </geometry>
      <origin rpy="0 0 0" xyz="0 0 0"/>
    </collision>
  </link>
  <link name="leftWristRollLink">
    <inertial>
      <mass value="0.14"/>
      <origin rpy="0 0 0" xyz="0 0.0 0"/>
      <inertia ixx="3.0251e-05" ixy="1.25e-07" ixz="3.6e-08" iyy="3.772e-05" iyz="0.0" izz="9.395e-06"/>
    </inertial>
    <visual>
      <geometry>
        <mesh filename="valkyrie_aj6_left.stl"/>
      </geometry>
      <origin rpy="0.0 0.0 0.0" xyz="0.0 0.0 0.0"/>
    </visual>
    <collision>
      <geometry>
        <mesh filename="package://valkyrie/urdf/model/meshes/arms/aj6_left.dae"/>
      </geometry>
      <origin rpy="0 0 0" xyz="0 0 0"/>
    </collision>
  </link>
  <link name="leftPalm">
    <inertial>
      <mass value="0.712"/>
      <origin rpy="0 0 0" xyz="0.002954 0.052034 -0.000236"/>
      <inertia ixx="0.000943493" ixy="3.4393e-05" ixz="3.8828e-05" iyy="0.000711024" iyz="-2.3429e-05" izz="0.000610199"/>
    </inertial>
    <visual>
      <geometry>
        <mesh filename="valkyrie_palm_left.stl"/>
      </geometry>
      <origin rpy="0.0 0.0 0.0" xyz="0.0 0.0 0.0"/>
    </visual>
    <collision>
      <geometry>
        <mesh filename="package://valkyrie/urdf/model/meshes/arms/palm_left.dae"/>
      </geometry>
      <origin rpy="0 0 0" xyz="0 0 0"/>
    </collision>
  </link>
  <joint name="leftForearmYaw" type="revolute">
    <origin rpy="0.0 0.0 0.0" xyz="-0.0254 0 0"/>
    <axis xyz="0 1 0"/>
    <parent link="leftElbowPitchLink"/>
    <child link="leftForearmLink"/>
    <limit effort="26" lower="-2.019" upper="3.14" velocity="5"/>
    <controller_gains Kd="0" Kp="20000"/>
    <dynamics damping="0.1" friction="0.0"/>
  </joint>
  <gazebo reference="leftForearmYaw">
    <provideFeedback>1</provideFeedback>
    <implicitSpringDamper>1</implicitSpringDamper>
  </gazebo>
  <joint name="leftWristRoll" type="revolute">
    <origin rpy="0.0 0.0 0.0" xyz="0.0 0.2871 0.0"/>
    <axis xyz="1 0 0"/>
    <parent link="leftForearmLink"/>
    <child link="leftWristRollLink"/>
    <limit effort="14" lower="-0.62" upper="0.625" velocity="1"/>
    <controller_gains Kd="400" Kp="20000"/>
    <dynamics damping="0.1" friction="0.0"/>
  </joint>
  <gazebo reference="leftWristRoll">
    <provideFeedback>1</provideFeedback>
    <implicitSpringDamper>1</implicitSpringDamper>
  </gazebo>
  <joint name="leftWristPitch" type="revolute">
    <origin rpy="0.0 0.0 0.0" xyz="0.0 0.0 0.0"/>
    <axis xyz="0 0 1"/>
    <parent link="leftWristRollLink"/>
    <child link="leftPalm"/>
    <limit effort="14" lower="-0.36" upper="0.49" velocity="1"/>
    <controller_gains Kd="400" Kp="20000"/>
    <dynamics damping="0.1" friction="0.0"/>
  </joint>
  <gazebo reference="leftWristPitch">
    <provideFeedback>1</provideFeedback>
    <implicitSpringDamper>1</implicitSpringDamper>
  </gazebo>
  <link name="leftThumbRollLink">
    <inertial>
      <mass value="0.017"/>
      <origin rpy="0 0 0" xyz="0 0.0 0.01"/>
      <inertia ixx="2.7778767e-06" ixy="5.6718533e-09" ixz="9.5523207e-08" iyy="3.5462642e-06" iyz="-3.663718e-08" izz="1.3553297e-06"/>
    </inertial>
    <visual>
      <geometry>
        <mesh filename="valkyrie_thumbj1_left.stl"/>
      </geometry>
      <origin rpy="0.0 0.0 0.0" xyz="0.0 0.0 0.0"/>
    </visual>
    <collision>
      <geometry>
        <mesh filename="package://valkyrie/urdf/model/meshes/fingers/thumbj1_left.dae"/>
      </geometry>
      <origin rpy="0 0 0" xyz="0 0 0"/>
    </collision>
  </link>
  <link name="leftThumbPitch1Link">
    <inertial>
      <mass value="0.02"/>
      <origin rpy="0 0 0" xyz="0.0 0.005 0.02"/>
      <inertia ixx="4.239e-06" ixy="0.0" ixz="0.0" iyy="4.582e-06" iyz="-0.0" izz="1.47e-06"/>
    </inertial>
    <visual>
      <geometry>
        <mesh filename="valkyrie_thumbj2_left.stl"/>
      </geometry>
      <origin rpy="0.0 0.0 0.0" xyz="0.0 0.0 0.0"/>
    </visual>
    <collision>
      <geometry>
        <mesh filename="package://valkyrie/urdf/model/meshes/fingers/thumbj2_left.dae"/>
      </geometry>
      <origin rpy="0 0 0" xyz="0 0 0"/>
    </collision>
  </link>
  <link name="leftThumbPitch2Link">
    <inertial>
      <mass value="0.013"/>
      <origin rpy="0 0 0" xyz="0 0.004 0.017"/>
      <inertia ixx="1.266e-06" ixy="0.0" ixz="0.0" iyy="1.503e-06" iyz="0.0" izz="6.99e-07"/>
    </inertial>
    <visual>
      <geometry>
        <mesh filename="valkyrie_thumbj3_left.stl"/>
      </geometry>
      <origin rpy="0.0 0.0 0.0" xyz="0.0 0.0 0.0"/>
    </visual>
    <collision>
      <geometry>
        <mesh filename="package://valkyrie/urdf/model/meshes/fingers/thumbj3_left.dae"/>
      </geometry>
      <origin rpy="0 0 0" xyz="0 0 0"/>
    </collision>
  </link>
  <link name="leftThumbPitch3Link">
    <inertial>
      <mass value="0.006"/>
      <origin rpy="0 0 0" xyz="0 0.004 0.01"/>
      <inertia ixx="3.22e-07" ixy="0.0" ixz="0.0" iyy="4.06e-07" iyz="0.0" izz="2.1e-07"/>
    </inertial>
    <visual>
      <geometry>
        <mesh filename="valkyrie_thumbj4_left.stl"/>
      </geometry>
      <origin rpy="0.0 0.0 0.0" xyz="0.0 0.0 0.0"/>
    </visual>
    <collision>
      <geometry>
        <mesh filename="package://valkyrie/urdf/model/meshes/fingers/thumbj4_left.dae"/>
      </geometry>
      <origin rpy="0 0 0" xyz="0 0 0"/>
    </collision>
  </link>
  <joint name="leftThumbRoll" type="fixed">
    <origin rpy="-0.3491 0.0 0.0" xyz="0.0049 0.0351 0.0228"/>
    <axis xyz="0 0 1"/>
    <parent link="leftPalm"/>
    <child link="leftThumbRollLink"/>
  </joint>
  <gazebo reference="leftThumbRoll">
    <implicitSpringDamper>1</implicitSpringDamper>
  </gazebo>
  <joint name="leftThumbPitch1" type="fixed">
    <origin rpy="0.3491 0.0 0.0" xyz="0.0 0.0 0.0229"/>
    <axis xyz="0 0 1"/>
    <parent link="leftThumbRollLink"/>
    <child link="leftThumbPitch1Link"/>
  </joint>
  <gazebo reference="leftThumbPitch1">
    <implicitSpringDamper>1</implicitSpringDamper>
  </gazebo>
  <joint name="leftThumbPitch2" type="fixed">
    <origin rpy="0.0 0.0 0.0" xyz="0.0 0.0066 0.0375"/>
    <axis xyz="0 0 1"/>
    <parent link="leftThumbPitch1Link"/>
    <child link="leftThumbPitch2Link"/>
  </joint>
  <gazebo reference="leftThumbPitch2">
    <implicitSpringDamper>1</implicitSpringDamper>
  </gazebo>
  <joint name="leftThumbPitch3" type="fixed">
    <origin rpy="0.0 0.0 0.0" xyz="0.0 0.0049 0.0275"/>
    <axis xyz="0 0 1"/>
    <parent link="leftThumbPitch2Link"/>
    <child link="leftThumbPitch3Link"/>
  </joint>
  <gazebo reference="leftThumbPitch3">
    <implicitSpringDamper>1</implicitSpringDamper>
  </gazebo>
  <link name="leftIndexFingerPitch1Link">
    <inertial>
      <mass value="0.02"/>
      <origin rpy="0 0 0" xyz="0 0.02 0"/>
      <inertia ixx="4.232e-06" ixy="6e-08" ixz="8e-09" iyy="1.215e-06" iyz="-7e-09" izz="3.892e-06"/>
    </inertial>
    <visual>
      <geometry>
        <mesh filename="valkyrie_indexj1_left.stl"/>
      </geometry>
      <origin rpy="0.0 0.0 0.0" xyz="0.0 0.0 0.0"/>
    </visual>
    <collision>
      <geometry>
        <mesh filename="package://valkyrie/urdf/model/meshes/fingers/indexj1_left.dae"/>
      </geometry>
      <origin rpy="0 0 0" xyz="0 0 0"/>
    </collision>
  </link>
  <link name="leftIndexFingerPitch2Link">
    <inertial>
      <mass value="0.018"/>
      <origin rpy="0 0 0" xyz="0 0.013 0"/>
      <inertia ixx="1.562e-06" ixy="1.7e-08" ixz="1.3e-08" iyy="7.22e-07" iyz="3.1e-08" izz="1.255e-06"/>
    </inertial>
    <visual>
      <geometry>
        <mesh filename="valkyrie_indexj2_left.stl"/>
      </geometry>
      <origin rpy="0.0 0.0 0.0" xyz="0.0 0.0 0.0"/>
    </visual>
    <collision>
      <geometry>
        <mesh filename="package://valkyrie/urdf/model/meshes/fingers/indexj2_left.dae"/>
      </geometry>
      <origin rpy="0 0 0" xyz="0 0 0"/>
    </collision>
  </link>
  <link name="leftIndexFingerPitch3Link">
    <inertial>
      <mass value="0.01"/>
      <origin rpy="0 0 0" xyz="0 0.01 0"/>
      <inertia ixx="6.02e-07" ixy="2.4e-08" ixz="-0.0" iyy="2.09e-07" iyz="1.7e-08" izz="5.02e-07"/>
    </inertial>
    <visual>
      <geometry>
        <mesh filename="valkyrie_indexj3_left.stl"/>
      </geometry>
      <origin rpy="0.0 0.0 0.0" xyz="0.0 0.0 0.0"/>
    </visual>
    <collision>
      <geometry>
        <mesh filename="package://valkyrie/urdf/model/meshes/fingers/indexj3_left.dae"/>
      </geometry>
      <origin rpy="0 0 0" xyz="0 0 0"/>
    </collision>
  </link>
  <joint name="leftIndexFingerPitch1" type="fixed">
    <origin rpy="0.1745 0.0 0.0" xyz="0.0022 0.0976 0.0235"/>
    <axis xyz="0 0 1"/>
    <parent link="leftPalm"/>
    <child link="leftIndexFingerPitch1Link"/>
  </joint>
  <gazebo reference="leftIndexFingerPitch1">
    <implicitSpringDamper>1</implicitSpringDamper>
  </gazebo>
  <joint name="leftIndexFingerPitch2" type="fixed">
    <origin rpy="0.0 0.0 0.0" xyz="0.0 0.0381 0.0"/>
    <axis xyz="0 0 1"/>
    <parent link="leftIndexFingerPitch1Link"/>
    <child link="leftIndexFingerPitch2Link"/>
  </joint>
  <gazebo reference="leftIndexFingerPitch2">
    <implicitSpringDamper>1</implicitSpringDamper>
  </gazebo>
  <joint name="leftIndexFingerPitch3" type="fixed">
    <origin rpy="0.0 0.0 0.0" xyz="0.0 0.0229 0"/>
    <axis xyz="0 0 1"/>
    <parent link="leftIndexFingerPitch2Link"/>
    <child link="leftIndexFingerPitch3Link"/>
  </joint>
  <gazebo reference="leftIndexFingerPitch3">
    <implicitSpringDamper>1</implicitSpringDamper>
  </gazebo>
  <link name="leftMiddleFingerPitch1Link">
    <inertial>
      <mass value="0.02"/>
      <origin rpy="0 0 0" xyz="0 0.02 0"/>
      <inertia ixx="5.148e-06" ixy="4.2e-08" ixz="1.1e-08" iyy="1.322e-06" iyz="-4e-09" izz="4.592e-06"/>
    </inertial>
    <visual>
      <geometry>
        <mesh filename="valkyrie_middlej1_left.stl"/>
      </geometry>
      <origin rpy="0.0 0.0 0.0" xyz="0.0 0.0 0.0"/>
    </visual>
    <collision>
      <geometry>
        <mesh filename="package://valkyrie/urdf/model/meshes/fingers/middlej1_left.dae"/>
      </geometry>
      <origin rpy="0 0 0" xyz="0 0 0"/>
    </collision>
  </link>
  <link name="leftMiddleFingerPitch2Link">
    <inertial>
      <mass value="0.011"/>
      <origin rpy="0 0 0" xyz="0 0.013 0"/>
      <inertia ixx="1.97e-06" ixy="-3.4e-08" ixz="1.1e-08" iyy="5.54e-07" iyz="-7.8e-08" izz="2.272e-06"/>
    </inertial>
    <visual>
      <geometry>
        <mesh filename="valkyrie_middlej2_left.stl"/>
      </geometry>
      <origin rpy="0.0 0.0 0.0" xyz="0.0 0.0 0.0"/>
    </visual>
    <collision>
      <geometry>
        <mesh filename="package://valkyrie/urdf/model/meshes/fingers/middlej2_left.dae"/>
      </geometry>
      <origin rpy="0 0 0" xyz="0 0 0"/>
    </collision>
  </link>
  <link name="leftMiddleFingerPitch3Link">
    <inertial>
      <mass value="0.006"/>
      <origin rpy="0 0 0" xyz="0 0.01 0"/>
      <inertia ixx="3.96e-07" ixy="9e-09" ixz="1e-09" iyy="1.6e-07" iyz="1.6e-08" izz="3.03e-07"/>
    </inertial>
    <visual>
      <geometry>
        <mesh filename="valkyrie_middlej3_left.stl"/>
      </geometry>
      <origin rpy="0.0 0.0 0.0" xyz="0.0 0.0 0.0"/>
    </visual>
    <collision>
      <geometry>
        <mesh filename="package://valkyrie/urdf/model/meshes/fingers/middlej3_left.dae"/>
      </geometry>
      <origin rpy="0 0 0" xyz="0 0 0"/>
    </collision>
  </link>
  <joint name="leftMiddleFingerPitch1" type="fixed">
    <origin rpy="-0.1222 0.0 0.0" xyz="0.0022 0.097 -0.0119"/>
    <axis xyz="0 0 1"/>
    <parent link="leftPalm"/>
    <child link="leftMiddleFingerPitch1Link"/>
  </joint>
  <gazebo reference="leftMiddleFingerPitch1">
    <implicitSpringDamper>1</implicitSpringDamper>
  </gazebo>
  <joint name="leftMiddleFingerPitch2" type="fixed">
    <origin rpy="0.0 0.0 0.0" xyz="0.0 0.0381 0.0"/>
    <axis xyz="0 0 1"/>
    <parent link="leftMiddleFingerPitch1Link"/>
    <child link="leftMiddleFingerPitch2Link"/>
  </joint>
  <gazebo reference="leftMiddleFingerPitch2">
    <implicitSpringDamper>1</implicitSpringDamper>
  </gazebo>
  <joint name="leftMiddleFingerPitch3" type="fixed">
    <origin rpy="0.0 0.0 0.0" xyz="0.0 0.0229 0.0"/>
    <axis xyz="0 0 1"/>
    <parent link="leftMiddleFingerPitch2Link"/>
    <child link="leftMiddleFingerPitch3Link"/>
  </joint>
  <gazebo reference="leftMiddleFingerPitch3">
    <implicitSpringDamper>1</implicitSpringDamper>
  </gazebo>
  <link name="leftPinkyPitch1Link">
    <inertial>
      <mass value="0.02"/>
      <origin rpy="0 0 0" xyz="0 0.02 0"/>
      <inertia ixx="5.148e-06" ixy="4.2e-08" ixz="1.1e-08" iyy="1.322e-06" iyz="-4e-09" izz="4.592e-06"/>
    </inertial>
    <visual>
      <geometry>
        <mesh filename="valkyrie_pinkyj1_left.stl"/>
      </geometry>
      <origin rpy="0.0 0.0 0.0" xyz="0.0 0.0 0.0"/>
    </visual>
    <collision>
      <geometry>
        <mesh filename="package://valkyrie/urdf/model/meshes/fingers/pinkyj1_left.dae"/>
      </geometry>
      <origin rpy="0 0 0" xyz="0 0 0"/>
    </collision>
  </link>
  <link name="leftPinkyPitch2Link">
    <inertial>
      <mass value="0.011"/>
      <origin rpy="0 0 0" xyz="0 0.013 0"/>
      <inertia ixx="1.97e-06" ixy="-3.4e-08" ixz="1.1e-08" iyy="5.54e-07" iyz="-7.8e-08" izz="2.272e-06"/>
    </inertial>
    <visual>
      <geometry>
        <mesh filename="valkyrie_pinkyj2_left.stl"/>
      </geometry>
      <origin rpy="0.0 0.0 0.0" xyz="0.0 0.0 0.0"/>
    </visual>
    <collision>
      <geometry>
        <mesh filename="package://valkyrie/urdf/model/meshes/fingers/pinkyj2_left.dae"/>
      </geometry>
      <origin rpy="0 0 0" xyz="0 0 0"/>
    </collision>
  </link>
  <link name="leftPinkyPitch3Link">
    <inertial>
      <mass value="0.006"/>
      <origin rpy="0 0 0" xyz="0 0.01 0"/>
      <inertia ixx="3.96e-07" ixy="9e-09" ixz="1e-09" iyy="1.6e-07" iyz="1.6e-08" izz="3.03e-07"/>
    </inertial>
    <visual>
      <geometry>
        <mesh filename="valkyrie_pinkyj3_left.stl"/>
      </geometry>
      <origin rpy="0.0 0.0 0.0" xyz="0.0 0.0 0.0"/>
    </visual>
    <collision>
      <geometry>
        <mesh filename="package://valkyrie/urdf/model/meshes/fingers/pinkyj3_left.dae"/>
      </geometry>
      <origin rpy="0 0 0" xyz="0 0 0"/>
    </collision>
  </link>
  <joint name="leftPinkyPitch1" type="fixed">
    <origin rpy="-0.1222 0.0 0.0" xyz="0.0022 0.0838 -0.041"/>
    <axis xyz="0 0 1"/>
    <parent link="leftPalm"/>
    <child link="leftPinkyPitch1Link"/>
  </joint>
  <gazebo reference="leftPinkyPitch1">
    <implicitSpringDamper>1</implicitSpringDamper>
  </gazebo>
  <joint name="leftPinkyPitch2" type="fixed">
    <origin rpy="0.0 0.0 0.0" xyz="0.0 0.0381 0.0"/>
    <axis xyz="0 0 1"/>
    <parent link="leftPinkyPitch1Link"/>
    <child link="leftPinkyPitch2Link"/>
  </joint>
  <gazebo reference="leftPinkyPitch2">
    <implicitSpringDamper>1</implicitSpringDamper>
  </gazebo>
  <joint name="leftPinkyPitch3" type="fixed">
    <origin rpy="0.0 0.0 0.0" xyz="0.0 0.0229 0.0"/>
    <axis xyz="0 0 1"/>
    <parent link="leftPinkyPitch2Link"/>
    <child link="leftPinkyPitch3Link"/>
  </joint>
  <gazebo reference="leftPinkyPitch3">
    <implicitSpringDamper>1</implicitSpringDamper>
  </gazebo>
  <link name="rightHipYawLink">
    <inertial>
      <mass value="2.39"/>
      <origin rpy="0 0 0" xyz="0.02176 0.00131 0.03867"/>
      <inertia ixx="0.017260978" ixy="0.0" ixz="0.0" iyy="0.014866198" iyz="0.0" izz="0.011238178"/>
    </inertial>
    <visual>
      <geometry>
        <mesh filename="valkyrie_lj1_right.stl"/>
      </geometry>
      <origin rpy="0.0 0.0 0.0" xyz="0.0 0.0 0.0"/>
    </visual>
    <collision>
      <geometry>
        <mesh filename="package://valkyrie/urdf/model/meshes/legs/lj1_right.dae"/>
      </geometry>
      <origin rpy="0 0 0" xyz="0 0 0"/>
    </collision>
  </link>
  <link name="rightHipRollLink">
    <inertial>
      <mass value="3.665"/>
      <origin rpy="0 0 0" xyz="0.012959 -0.00755 -0.015950"/>
      <inertia ixx="0.005978962" ixy="0.000234823" ixz="0.000553962" iyy="0.009372646" iyz="-0.000778956" izz="0.008193117"/>
    </inertial>
    <visual>
      <geometry>
        <mesh filename="valkyrie_lj2_right.stl"/>
      </geometry>
      <origin rpy="0.0 0.0 0.0" xyz="0.0 0.0 0.0"/>
    </visual>
    <collision>
      <geometry>
        <mesh filename="package://valkyrie/urdf/model/meshes/legs/lj2_right.dae"/>
      </geometry>
      <origin rpy="0 0 0" xyz="0 0 0"/>
    </collision>
  </link>
  <link name="rightHipPitchLink">
    <inertial>
      <mass value="10.2"/>
      <origin rpy="0 0 0" xyz="0.016691 -0.091397 -0.207875"/>
      <inertia ixx="0.24083413" ixy="-3.5915e-05" ixz="0.003699383" iyy="0.25689705" iyz="0.001333005" izz="0.023276352"/>
    </inertial>
    <visual>
      <geometry>
        <mesh filename="valkyrie_lj3_right.stl"/>
      </geometry>
      <origin rpy="0.0 0.0 0.0" xyz="0.0 0.0 0.0"/>
    </visual>
    <collision>
      <geometry>
        <mesh filename="package://valkyrie/urdf/model/meshes/legs/lj3_right.dae"/>
      </geometry>
      <origin rpy="0 0 0" xyz="0 0 0"/>
    </collision>
  </link>
  <link name="rightKneePitchLink">
    <inertial>
      <mass value="6.6"/>
      <origin rpy="0 0 0" xyz="0.002425 -0.001543 -0.189511"/>
      <inertia ixx="0.096117529" ixy="0.000107885" ixz="0.006319047" iyy="0.097118447" iyz="-0.000494739" izz="0.013722874"/>
    </inertial>
    <visual>
      <geometry>
        <mesh filename="valkyrie_lj4_right.stl"/>
      </geometry>
      <origin rpy="0.0 0.0 0.0" xyz="0.0 0.0 0.0"/>
    </visual>
    <collision>
      <geometry>
        <mesh filename="package://valkyrie/urdf/model/meshes/legs/lj4_right.dae"/>
      </geometry>
      <origin rpy="0 0 0" xyz="0 0 0"/>
    </collision>
  </link>
  <link name="rightAnklePitchLink">
    <inertial>
      <mass value="0.06"/>
      <origin rpy="0 0 0" xyz="0.0 0.0 0.0"/>
      <inertia ixx="1.1226e-05" ixy="0.0" ixz="2.735e-06" iyy="2.67e-05" iyz="0.0" izz="1.8792e-05"/>
    </inertial>
    <visual>
      <geometry>
        <mesh filename="valkyrie_lj5.stl"/>
      </geometry>
      <origin rpy="0.0 0.0 0.0" xyz="0.0 0.0 0.0"/>
    </visual>
    <collision>
      <geometry>
        <mesh filename="package://valkyrie/urdf/model/meshes/legs/lj5.dae"/>
      </geometry>
      <origin rpy="0 0 0" xyz="0 0 0"/>
    </collision>
  </link>
  <link name="rightFoot">
    <inertial>
      <mass value="3.255"/>
      <origin rpy="0 0 0" xyz="0.037702 0.005161 -0.047634"/>
      <inertia ixx="0.008966273" ixy="-8.6029e-05" ixz="0.003944774" iyy="0.023943858" iyz="0.000105218" izz="0.028128777"/>
    </inertial>
    <visual>
      <geometry>
        <mesh filename="valkyrie_foot.stl"/>
      </geometry>
      <origin rpy="0 0 0" xyz="0 0 0"/>
    </visual>
    <collision>
      <geometry>
        <box size="0.27 0.16 0.064"/>
      </geometry>
      <origin rpy="0.0 0.0 0.0" xyz="0.066 0.0 -0.056"/>
    </collision>
    <collision group="midfoot_rear">
      <origin rpy="0 0 0" xyz="0.032 0.055 -0.09"/>
      <geometry>
        <sphere radius="0.0"/>
      </geometry>
    </collision>
    <visual group="midfoot_rear">
      <origin rpy="0 0 0" xyz="0.032 0.055 -0.09"/>
      <geometry>
        <sphere radius="0.01"/>
      </geometry>
    </visual>
    <collision group="midfoot_rear">
      <origin rpy="0 0 0" xyz="0.032 -0.055 -0.09"/>
      <geometry>
        <sphere radius="0.0"/>
      </geometry>
    </collision>
    <visual group="midfoot_rear">
      <origin rpy="0 0 0" xyz="0.032 -0.055 -0.09"/>
      <geometry>
        <sphere radius="0.01"/>
      </geometry>
    </visual>
    <collision group="midfoot_front">
      <origin rpy="0 0 0" xyz="0.102 0.055 -0.09"/>
      <geometry>
        <sphere radius="0.0"/>
      </geometry>
    </collision>
    <visual group="midfoot_front">
      <origin rpy="0 0 0" xyz="0.102 0.055 -0.09"/>
      <geometry>
        <sphere radius="0.01"/>
      </geometry>
    </visual>
    <collision group="midfoot_front">
      <origin rpy="0 0 0" xyz="0.102 -0.055 -0.09"/>
      <geometry>
        <sphere radius="0.0"/>
      </geometry>
    </collision>
    <visual group="midfoot_front">
      <origin rpy="0 0 0" xyz="0.102 -0.055 -0.09"/>
      <geometry>
        <sphere radius="0.01"/>
      </geometry>
    </visual>
    <collision group="heel">
      <origin rpy="0 0 0" xyz="-0.038 0.055 -0.09"/>
      <geometry>
        <sphere radius="0.0"/>
      </geometry>
    </collision>
    <visual group="heel">
      <origin rpy="0 0 0" xyz="-0.038 0.055 -0.09"/>
      <geometry>
        <sphere radius="0.01"/>
      </geometry>
    </visual>
    <collision group="heel">
      <origin rpy="0 0 0" xyz="-0.038 -0.055 -0.09"/>
      <geometry>
        <sphere radius="0.0"/>
      </geometry>
    </collision>
    <visual group="heel">
      <origin rpy="0 0 0" xyz="-0.038 -0.055 -0.09"/>
      <geometry>
        <sphere radius="0.01"/>
      </geometry>
    </visual>
    <collision group="toe">
      <origin rpy="0 0 0" xyz="0.172 0.055 -0.09"/>
      <geometry>
        <sphere radius="0.0"/>
      </geometry>
    </collision>
    <visual group="toe">
      <origin rpy="0 0 0" xyz="0.172 0.055 -0.09"/>
      <geometry>
        <sphere radius="0.01"/>
      </geometry>
    </visual>
    <collision group="toe">
      <origin rpy="0 0 0" xyz="0.172 -0.055 -0.09"/>
      <geometry>
        <sphere radius="0.0"/>
      </geometry>
    </collision>
    <visual group="toe">
      <origin rpy="0 0 0" xyz="0.172 -0.055 -0.09"/>
      <geometry>
        <sphere radius="0.01"/>
      </geometry>
    </visual>
  </link>
  <joint name="rightHipYaw" type="revolute">
    <origin rpy="0.0 0.0 0.0" xyz="0.0 -0.1016 -0.1853"/>
    <axis xyz="0 0 1"/>
    <parent link="pelvis"/>
    <child link="rightHipYawLink"/>
    <limit effort="190" lower="-1.1" upper="0.4141" velocity="5.89"/>
    <controller_gains Kd="500" Kp="15000"/>
    <dynamics damping="0.1" friction="0.0"/>
  </joint>
  <gazebo reference="rightHipYaw">
    <provideFeedback>1</provideFeedback>
    <implicitSpringDamper>1</implicitSpringDamper>
  </gazebo>
  <joint name="rightHipRoll" type="revolute">
    <origin rpy="0.0 0.0 0.0" xyz="0.0 0.0 0.0"/>
    <axis xyz="1 0 0"/>
    <parent link="rightHipYawLink"/>
    <child link="rightHipRollLink"/>
    <limit effort="350" lower="-0.5515" upper="0.467" velocity="7"/>
    <controller_gains Kd="500" Kp="15000"/>
    <dynamics damping="0.1" friction="0.0"/>
  </joint>
  <gazebo reference="rightHipRoll">
    <provideFeedback>1</provideFeedback>
    <implicitSpringDamper>1</implicitSpringDamper>
  </gazebo>
  <joint name="rightHipPitch" type="revolute">
    <origin rpy="0.0 0.0 0.0" xyz="0.0 0.0 -0.0609"/>
    <axis xyz="0 1 0"/>
    <parent link="rightHipRollLink"/>
    <child link="rightHipPitchLink"/>
    <limit effort="350" lower="-2.42" upper="1.619" velocity="6.11"/>
    <controller_gains Kd="500" Kp="15000"/>
    <dynamics damping="0.1" friction="0.0"/>
  </joint>
  <gazebo reference="rightHipPitch">
    <provideFeedback>1</provideFeedback>
    <implicitSpringDamper>1</implicitSpringDamper>
  </gazebo>
  <joint name="rightKneePitch" type="revolute">
    <origin rpy="0.0 0.0 0.0" xyz="0.000112225 -0.0361046 -0.430959"/>
    <axis xyz="0 1 0"/>
    <parent link="rightHipPitchLink"/>
    <child link="rightKneePitchLink"/>
    <limit effort="350" lower="-0.083" upper="2.057" velocity="6.11"/>
    <controller_gains Kd="500" Kp="15000"/>
    <dynamics damping="0.1" friction="0.0"/>
  </joint>
  <gazebo reference="rightKneePitch">
    <provideFeedback>1</provideFeedback>
    <implicitSpringDamper>1</implicitSpringDamper>
  </gazebo>
  <joint name="rightAnklePitch" type="revolute">
    <origin rpy="0.0 0.0 0.0" xyz="-0.0102381 0.0 -0.40627"/>
    <axis xyz="0 1 0"/>
    <parent link="rightKneePitchLink"/>
    <child link="rightAnklePitchLink"/>
    <limit effort="205" lower="-1.8644" upper="1.875" velocity="11"/>
    <controller_gains Kd="400" Kp="15000"/>
    <dynamics damping="0.1" friction="0.0"/>
  </joint>
  <gazebo reference="rightAnklePitch">
    <provideFeedback>1</provideFeedback>
    <implicitSpringDamper>1</implicitSpringDamper>
  </gazebo>
  <joint name="rightAnkleRoll" type="revolute">
    <origin rpy="0.0 0.0 0.0" xyz="0.0 0.0 0.0"/>
    <axis xyz="1 0 0"/>
    <parent link="rightAnklePitchLink"/>
    <child link="rightFoot"/>
    <limit effort="205" lower="-1.349" upper="1.348" velocity="11"/>
    <controller_gains Kd="400" Kp="15000"/>
    <dynamics damping="0.3" friction="0.0"/>
  </joint>
  <gazebo reference="rightAnkleRoll">
    <provideFeedback>1</provideFeedback>
    <implicitSpringDamper>1</implicitSpringDamper>
  </gazebo>
  <link name="leftHipYawLink">
    <inertial>
      <mass value="2.39"/>
      <origin rpy="0 0 0" xyz="0.02176 -0.00131 0.03867"/>
      <inertia ixx="0.017260978" ixy="0.0" ixz="0.0" iyy="0.014866198" iyz="0.0" izz="0.011238178"/>
    </inertial>
    <visual>
      <geometry>
        <mesh filename="valkyrie_lj1_left.stl"/>
      </geometry>
      <origin rpy="0.0 0.0 0.0" xyz="0.0 0.0 0.0"/>
    </visual>
    <collision>
      <geometry>
        <mesh filename="package://valkyrie/urdf/model/meshes/legs/lj1_left.dae"/>
      </geometry>
      <origin rpy="0 0 0" xyz="0 0 0"/>
    </collision>
  </link>
  <link name="leftHipRollLink">
    <inertial>
      <mass value="3.665"/>
      <origin rpy="0 0 0" xyz="0.012959 0.00755 -0.015950"/>
      <inertia ixx="0.005978962" ixy="-0.000234823" ixz="0.000553962" iyy="0.009372646" iyz="0.000778956" izz="0.008193117"/>
    </inertial>
    <visual>
      <geometry>
        <mesh filename="valkyrie_lj2_left.stl"/>
      </geometry>
      <origin rpy="0.0 0.0 0.0" xyz="0.0 0.0 0.0"/>
    </visual>
    <collision>
      <geometry>
        <mesh filename="package://valkyrie/urdf/model/meshes/legs/lj2_left.dae"/>
      </geometry>
      <origin rpy="0 0 0" xyz="0 0 0"/>
    </collision>
  </link>
  <link name="leftHipPitchLink">
    <inertial>
      <mass value="10.2"/>
      <origin rpy="0 0 0" xyz="0.016691 0.091397 -0.207875"/>
      <inertia ixx="0.24083413" ixy="3.5915e-05" ixz="0.003699383" iyy="0.25689705" iyz="-0.001333005" izz="0.023276352"/>
    </inertial>
    <visual>
      <geometry>
        <mesh filename="valkyrie_lj3_left.stl"/>
      </geometry>
      <origin rpy="0.0 0.0 0.0" xyz="0.0 0.0 0.0"/>
    </visual>
    <collision>
      <geometry>
        <mesh filename="package://valkyrie/urdf/model/meshes/legs/lj3_left.dae"/>
      </geometry>
      <origin rpy="0 0 0" xyz="0 0 0"/>
    </collision>
  </link>
  <link name="leftKneePitchLink">
    <inertial>
      <mass value="6.6"/>
      <origin rpy="0 0 0" xyz="0.002425 -0.001543 -0.189511"/>
      <inertia ixx="0.096117529" ixy="0.000107885" ixz="0.006319047" iyy="0.097118447" iyz="-0.000494739" izz="0.013722874"/>
    </inertial>
    <visual>
      <geometry>
        <mesh filename="valkyrie_lj4_left.stl"/>
      </geometry>
      <origin rpy="0.0 0.0 0.0" xyz="0.0 0.0 0.0"/>
    </visual>
    <collision>
      <geometry>
        <mesh filename="package://valkyrie/urdf/model/meshes/legs/lj4_left.dae"/>
      </geometry>
      <origin rpy="0 0 0" xyz="0 0 0"/>
    </collision>
  </link>
  <link name="leftAnklePitchLink">
    <inertial>
      <mass value="0.06"/>
      <origin rpy="0 0 0" xyz="0.0 0.0 0.0"/>
      <inertia ixx="1.1226e-05" ixy="0.0" ixz="2.735e-06" iyy="2.67e-05" iyz="0.0" izz="1.8792e-05"/>
    </inertial>
    <visual>
      <geometry>
        <mesh filename="valkyrie_lj5.stl"/>
      </geometry>
      <origin rpy="0.0 0.0 0.0" xyz="0.0 0.0 0.0"/>
    </visual>
    <collision>
      <geometry>
        <mesh filename="package://valkyrie/urdf/model/meshes/legs/lj5.dae"/>
      </geometry>
      <origin rpy="0 0 0" xyz="0 0 0"/>
    </collision>
  </link>
  <link name="leftFoot">
    <inertial>
      <mass value="3.255"/>
      <origin rpy="0 0 0" xyz="0.037702 0.005161 -0.047634"/>
      <inertia ixx="0.008966273" ixy="-8.6029e-05" ixz="0.003944774" iyy="0.023943858" iyz="0.000105218" izz="0.028128777"/>
    </inertial>
    <visual>
      <geometry>
        <mesh filename="valkyrie_foot.stl"/>
      </geometry>
      <origin rpy="0 0 0" xyz="0 0 0"/>
    </visual>
    <collision>
      <geometry>
        <box size="0.27 0.16 0.064"/>
      </geometry>
      <origin rpy="0.0 0.0 0.0" xyz="0.066 0.0 -0.056"/>
    </collision>
    <collision group="midfoot_rear">
      <origin rpy="0 0 0" xyz="0.032 0.055 -0.09"/>
      <geometry>
        <sphere radius="0.0"/>
      </geometry>
    </collision>
    <visual group="midfoot_rear">
      <origin rpy="0 0 0" xyz="0.032 0.055 -0.09"/>
      <geometry>
        <sphere radius="0.01"/>
      </geometry>
    </visual>
    <collision group="midfoot_rear">
      <origin rpy="0 0 0" xyz="0.032 -0.055 -0.09"/>
      <geometry>
        <sphere radius="0.0"/>
      </geometry>
    </collision>
    <visual group="midfoot_rear">
      <origin rpy="0 0 0" xyz="0.032 -0.055 -0.09"/>
      <geometry>
        <sphere radius="0.01"/>
      </geometry>
    </visual>
    <collision group="midfoot_front">
      <origin rpy="0 0 0" xyz="0.102 0.055 -0.09"/>
      <geometry>
        <sphere radius="0.0"/>
      </geometry>
    </collision>
    <visual group="midfoot_front">
      <origin rpy="0 0 0" xyz="0.102 0.055 -0.09"/>
      <geometry>
        <sphere radius="0.01"/>
      </geometry>
    </visual>
    <collision group="midfoot_front">
      <origin rpy="0 0 0" xyz="0.102 -0.055 -0.09"/>
      <geometry>
        <sphere radius="0.0"/>
      </geometry>
    </collision>
    <visual group="midfoot_front">
      <origin rpy="0 0 0" xyz="0.102 -0.055 -0.09"/>
      <geometry>
        <sphere radius="0.01"/>
      </geometry>
    </visual>
    <collision group="heel">
      <origin rpy="0 0 0" xyz="-0.038 0.055 -0.09"/>
      <geometry>
        <sphere radius="0.0"/>
      </geometry>
    </collision>
    <visual group="heel">
      <origin rpy="0 0 0" xyz="-0.038 0.055 -0.09"/>
      <geometry>
        <sphere radius="0.01"/>
      </geometry>
    </visual>
    <collision group="heel">
      <origin rpy="0 0 0" xyz="-0.038 -0.055 -0.09"/>
      <geometry>
        <sphere radius="0.0"/>
      </geometry>
    </collision>
    <visual group="heel">
      <origin rpy="0 0 0" xyz="-0.038 -0.055 -0.09"/>
      <geometry>
        <sphere radius="0.01"/>
      </geometry>
    </visual>
    <collision group="toe">
      <origin rpy="0 0 0" xyz="0.172 0.055 -0.09"/>
      <geometry>
        <sphere radius="0.0"/>
      </geometry>
    </collision>
    <visual group="toe">
      <origin rpy="0 0 0" xyz="0.172 0.055 -0.09"/>
      <geometry>
        <sphere radius="0.01"/>
      </geometry>
    </visual>
    <collision group="toe">
      <origin rpy="0 0 0" xyz="0.172 -0.055 -0.09"/>
      <geometry>
        <sphere radius="0.0"/>
      </geometry>
    </collision>
    <visual group="toe">
      <origin rpy="0 0 0" xyz="0.172 -0.055 -0.09"/>
      <geometry>
        <sphere radius="0.01"/>
      </geometry>
    </visual>
  </link>
  <joint name="leftHipYaw" type="revolute">
    <origin rpy="0.0 0.0 0.0" xyz="0.0 0.1016 -0.1853"/>
    <axis xyz="0 0 1"/>
    <parent link="pelvis"/>
    <child link="leftHipYawLink"/>
    <limit effort="190" lower="-0.4141" upper="1.1" velocity="5.89"/>
    <controller_gains Kd="500" Kp="15000"/>
    <dynamics damping="0.1" friction="0.0"/>
  </joint>
  <gazebo reference="leftHipYaw">
    <provideFeedback>1</provideFeedback>
    <implicitSpringDamper>1</implicitSpringDamper>
  </gazebo>
  <joint name="leftHipRoll" type="revolute">
    <origin rpy="0.0 0.0 0.0" xyz="0.0 0.0 0.0"/>
    <axis xyz="1 0 0"/>
    <parent link="leftHipYawLink"/>
    <child link="leftHipRollLink"/>
    <limit effort="350" lower="-0.467" upper="0.5515" velocity="7"/>
    <controller_gains Kd="500" Kp="15000"/>
    <dynamics damping="0.1" friction="0.0"/>
  </joint>
  <gazebo reference="leftHipRoll">
    <provideFeedback>1</provideFeedback>
    <implicitSpringDamper>1</implicitSpringDamper>
  </gazebo>
  <joint name="leftHipPitch" type="revolute">
    <origin rpy="0.0 0.0 0.0" xyz="0.0 0.0 -0.0609"/>
    <axis xyz="0 1 0"/>
    <parent link="leftHipRollLink"/>
    <child link="leftHipPitchLink"/>
    <limit effort="350" lower="-2.42" upper="1.619" velocity="6.11"/>
    <controller_gains Kd="500" Kp="15000"/>
    <dynamics damping="0.1" friction="0.0"/>
  </joint>
  <gazebo reference="leftHipPitch">
    <provideFeedback>1</provideFeedback>
    <implicitSpringDamper>1</implicitSpringDamper>
  </gazebo>
  <joint name="leftKneePitch" type="revolute">
    <origin rpy="0.0 0.0 0.0" xyz="0.000112225 0.0361046 -0.430959"/>
    <axis xyz="0 1 0"/>
    <parent link="leftHipPitchLink"/>
    <child link="leftKneePitchLink"/>
    <limit effort="350" lower="-0.083" upper="2.057" velocity="6.11"/>
    <controller_gains Kd="500" Kp="15000"/>
    <dynamics damping="0.1" friction="0.0"/>
  </joint>
  <gazebo reference="leftKneePitch">
    <provideFeedback>1</provideFeedback>
    <implicitSpringDamper>1</implicitSpringDamper>
  </gazebo>
  <joint name="leftAnklePitch" type="revolute">
    <origin rpy="0.0 0.0 0.0" xyz="-0.0102381 0.0 -0.40627"/>
    <axis xyz="0 1 0"/>
    <parent link="leftKneePitchLink"/>
    <child link="leftAnklePitchLink"/>
    <limit effort="205" lower="-1.8644" upper="1.875" velocity="11"/>
    <controller_gains Kd="400" Kp="15000"/>
    <dynamics damping="0.1" friction="0.0"/>
  </joint>
  <gazebo reference="leftAnklePitch">
    <provideFeedback>1</provideFeedback>
    <implicitSpringDamper>1</implicitSpringDamper>
  </gazebo>
  <joint name="leftAnkleRoll" type="revolute">
    <origin rpy="0.0 0.0 0.0" xyz="0.0 0.0 0.0"/>
    <axis xyz="1 0 0"/>
    <parent link="leftAnklePitchLink"/>
    <child link="leftFoot"/>
    <limit effort="205" lower="-1.349" upper="1.348" velocity="11"/>
    <controller_gains Kd="400" Kp="15000"/>
    <dynamics damping="0.3" friction="0.0"/>
  </joint>
  <gazebo reference="leftAnkleRoll">
    <provideFeedback>1</provideFeedback>
    <implicitSpringDamper>1</implicitSpringDamper>
  </gazebo>
  <link name="rightPelvisIMU_Frame">
    <!-- Virtual Link -->
    <inertial>
      <mass value="1e-07"/>
      <origin rpy="0 0 0" xyz="0 0 0"/>
      <inertia ixx="3.33333333333e-22" ixy="0.0" ixz="0.0" iyy="3.33333333333e-22" iyz="0.0" izz="5e-22"/>
    </inertial>
  </link>
  <joint name="rightPelvisIMU_Offset" type="fixed">
    <origin rpy="-1.57 0.0 1.274" xyz="0.0515 -0.115 -0.042"/>
    <axis xyz="0 0 1"/>
    <parent link="pelvis"/>
    <child link="rightPelvisIMU_Frame"/>
  </joint>
  <gazebo reference="rightPelvisIMU_Offset">
    <implicitSpringDamper>1</implicitSpringDamper>
  </gazebo>
  <gazebo reference="rightPelvisIMU_Frame">
    <sensor name="rightPelvisIMU" type="imu">
      <always_on>true</always_on>
      <pose>0.0515 -0.115 -0.042 -1.57 0.0 1.274 </pose>
      <imu>
        <noise>
          <type>gaussian</type>
          <rate>
            <mean>0</mean>
            <stddev>0.0002</stddev>
            <bias_mean>7.5e-06</bias_mean>
            <bias_stddev>8e-07</bias_stddev>
          </rate>
          <accel>
            <mean>0</mean>
            <stddev>0.017</stddev>
            <bias_mean>0.1</bias_mean>
            <bias_stddev>0.001</bias_stddev>
          </accel>
        </noise>
      </imu>
    </sensor>
  </gazebo>
  <link name="leftPelvisIMU_Frame">
    <!-- Virtual Link -->
    <inertial>
      <mass value="1e-07"/>
      <origin rpy="0 0 0" xyz="0 0 0"/>
      <inertia ixx="3.33333333333e-22" ixy="0.0" ixz="0.0" iyy="3.33333333333e-22" iyz="0.0" izz="5e-22"/>
    </inertial>
  </link>
  <joint name="leftPelvisIMU_Offset" type="fixed">
    <origin rpy="1.57 0 -1.274" xyz="0.0515 0.115 -0.042"/>
    <axis xyz="0 0 1"/>
    <parent link="pelvis"/>
    <child link="leftPelvisIMU_Frame"/>
  </joint>
  <gazebo reference="leftPelvisIMU_Offset">
    <implicitSpringDamper>1</implicitSpringDamper>
  </gazebo>
  <gazebo reference="leftPelvisIMU_Frame">
    <sensor name="leftPelvisIMU" type="imu">
      <always_on>true</always_on>
      <pose>0.0515 0.115 -0.042 1.57 0 -1.274 </pose>
      <imu>
        <noise>
          <type>gaussian</type>
          <rate>
            <mean>0</mean>
            <stddev>0.0002</stddev>
            <bias_mean>7.5e-06</bias_mean>
            <bias_stddev>8e-07</bias_stddev>
          </rate>
          <accel>
            <mean>0</mean>
            <stddev>0.017</stddev>
            <bias_mean>0.1</bias_mean>
            <bias_stddev>0.001</bias_stddev>
          </accel>
        </noise>
      </imu>
    </sensor>
  </gazebo>
  <link name="leftCOP_Frame">
    <inertial>
      <mass value="0.1"/>
      <origin rpy="0 0 0" xyz="0 0 0"/>
      <inertia ixx="8.33333333333e-05" ixy="0.0" ixz="0.0" iyy="8.33333333333e-05" iyz="0.0" izz="0.000125"/>
    </inertial>
  </link>
  <joint name="leftCOP_Offset" type="fixed">
    <origin rpy="0.0 0.13 0.0" xyz="0.0189 0.0 -0.0783"/>
    <axis xyz="0 0 1"/>
    <parent link="leftFoot"/>
    <child link="leftCOP_Frame"/>
  </joint>
  <gazebo reference="leftCOP_Offset">
    <implicitSpringDamper>1</implicitSpringDamper>
  </gazebo>
  <link name="leftLegSixAxis_Frame">
    <!-- Virtual Link -->
    <inertial>
      <mass value="1e-07"/>
      <origin rpy="0 0 0" xyz="0 0 0"/>
      <inertia ixx="3.33333333333e-22" ixy="0.0" ixz="0.0" iyy="3.33333333333e-22" iyz="0.0" izz="5e-22"/>
    </inertial>
  </link>
  <joint name="leftLegSixAxis_Offset" type="fixed">
    <origin rpy="3.14 0.0 -1.047" xyz="0.0215646 0.0 -0.051054"/>
    <axis xyz="0 0 1"/>
    <parent link="leftFoot"/>
    <child link="leftLegSixAxis_Frame"/>
  </joint>
  <gazebo reference="leftLegSixAxis_Offset">
    <implicitSpringDamper>1</implicitSpringDamper>
  </gazebo>
  <gazebo reference="leftLegSixAxis_Offset">
    <sensor name="leftLegSixAxis" type="force_torque">
    </sensor>
  </gazebo>
  <link name="rightCOP_Frame">
    <inertial>
      <mass value="0.1"/>
      <origin rpy="0 0 0" xyz="0 0 0"/>
      <inertia ixx="8.33333333333e-05" ixy="0.0" ixz="0.0" iyy="8.33333333333e-05" iyz="0.0" izz="0.000125"/>
    </inertial>
  </link>
  <joint name="rightCOP_Offset" type="fixed">
    <origin rpy="0.0 0.13 0.0" xyz="0.0189 0.0 -0.0783"/>
    <axis xyz="0 0 1"/>
    <parent link="rightFoot"/>
    <child link="rightCOP_Frame"/>
  </joint>
  <gazebo reference="rightCOP_Offset">
    <implicitSpringDamper>1</implicitSpringDamper>
  </gazebo>
  <link name="rightLegSixAxis_Frame">
    <!-- Virtual Link -->
    <inertial>
      <mass value="1e-07"/>
      <origin rpy="0 0 0" xyz="0 0 0"/>
      <inertia ixx="3.33333333333e-22" ixy="0.0" ixz="0.0" iyy="3.33333333333e-22" iyz="0.0" izz="5e-22"/>
    </inertial>
  </link>
  <joint name="rightLegSixAxis_Offset" type="fixed">
    <origin rpy="3.14 0.0 -1.047" xyz="0.0215646 0.0 -0.051054"/>
    <axis xyz="0 0 1"/>
    <parent link="rightFoot"/>
    <child link="rightLegSixAxis_Frame"/>
  </joint>
  <gazebo reference="rightLegSixAxis_Offset">
    <implicitSpringDamper>1</implicitSpringDamper>
  </gazebo>
  <gazebo reference="rightLegSixAxis_Offset">
    <sensor name="rightLegSixAxis" type="force_torque">
    </sensor>
  </gazebo>
  <joint name="multisense_head_root_joint" type="fixed">
    <origin rpy="-3.14159 0.130899694 0.0" xyz="0.183585961 0.0 0.075353826"/>
    <axis xyz="0 0 1"/>
    <parent link="upperNeckPitchLink"/>
    <child link="head"/>
  </joint>
  <gazebo reference="multisense_head_root_joint">
    <implicitSpringDamper>1</implicitSpringDamper>
  </gazebo>
  <link name="rightTorsoIMU_Frame">
    <!-- Virtual Link -->
    <inertial>
      <mass value="1e-07"/>
      <origin rpy="0 0 0" xyz="0 0 0"/>
      <inertia ixx="3.33333333333e-22" ixy="0.0" ixz="0.0" iyy="3.33333333333e-22" iyz="0.0" izz="5e-22"/>
    </inertial>
  </link>
  <joint name="rightTorsoIMU_Offset" type="fixed">
    <origin rpy="-1.57 0.0 3.14" xyz="-0.047 -0.134 0.363"/>
    <axis xyz="0 0 1"/>
    <parent link="torso"/>
    <child link="rightTorsoIMU_Frame"/>
  </joint>
  <gazebo reference="rightTorsoIMU_Offset">
    <implicitSpringDamper>1</implicitSpringDamper>
  </gazebo>
  <gazebo reference="rightTorsoIMU_Frame">
    <sensor name="rightTorsoIMU" type="imu">
      <always_on>true</always_on>
      <pose>-0.047 -0.134 0.363 -1.57 0.0 3.14 </pose>
      <imu>
        <noise>
          <type>gaussian</type>
          <rate>
            <mean>0</mean>
            <stddev>0.0002</stddev>
            <bias_mean>7.5e-06</bias_mean>
            <bias_stddev>8e-07</bias_stddev>
          </rate>
          <accel>
            <mean>0</mean>
            <stddev>0.017</stddev>
            <bias_mean>0.1</bias_mean>
            <bias_stddev>0.001</bias_stddev>
          </accel>
        </noise>
      </imu>
    </sensor>
  </gazebo>
  <link name="leftTorsoIMU_Frame">
    <!-- Virtual Link -->
    <inertial>
      <mass value="1e-07"/>
      <origin rpy="0 0 0" xyz="0 0 0"/>
      <inertia ixx="3.33333333333e-22" ixy="0.0" ixz="0.0" iyy="3.33333333333e-22" iyz="0.0" izz="5e-22"/>
    </inertial>
  </link>
  <joint name="leftTorsoIMU_Offset" type="fixed">
    <origin rpy="1.57 0.0 3.14" xyz="-0.047 0.134 0.363"/>
    <axis xyz="0 0 1"/>
    <parent link="torso"/>
    <child link="leftTorsoIMU_Frame"/>
  </joint>
  <gazebo reference="leftTorsoIMU_Offset">
    <implicitSpringDamper>1</implicitSpringDamper>
  </gazebo>
  <gazebo reference="leftTorsoIMU_Frame">
    <sensor name="leftTorsoIMU" type="imu">
      <always_on>true</always_on>
      <pose>-0.047 0.134 0.363 1.57 0.0 3.14 </pose>
      <imu>
        <noise>
          <type>gaussian</type>
          <rate>
            <mean>0</mean>
            <stddev>0.0002</stddev>
            <bias_mean>7.5e-06</bias_mean>
            <bias_stddev>8e-07</bias_stddev>
          </rate>
          <accel>
            <mean>0</mean>
            <stddev>0.017</stddev>
            <bias_mean>0.1</bias_mean>
            <bias_stddev>0.001</bias_stddev>
          </accel>
        </noise>
      </imu>
    </sensor>
  </gazebo>
  <link name="rightHazardCamera_Frame">
    <!-- Virtual Link -->
    <inertial>
      <mass value="1e-07"/>
      <origin rpy="0 0 0" xyz="0 0 0"/>
      <inertia ixx="3.33333333333e-22" ixy="0.0" ixz="0.0" iyy="3.33333333333e-22" iyz="0.0" izz="5e-22"/>
    </inertial>
  </link>
  <gazebo reference="rightHazardCamera_Frame">
    <sensor name="rightHazardCamera" type="camera">
      <camera>
        <image>
          <width>1280</width>
          <height>1024</height>
          <format>R8G8B8</format>
        </image>
        <horizontal_fov>1.378</horizontal_fov>
        <clip>
          <near>0.1</near>
          <far>100</far>
        </clip>
      </camera>
      <update_rate>60</update_rate>
    </sensor>
  </gazebo>
  <joint name="rightHazardCamera_Offset" type="fixed">
    <origin rpy="1.57 0.0 1.57" xyz="0.0345 -0.0406 0.1135"/>
    <axis xyz="0 0 1"/>
    <parent link="torso"/>
    <child link="rightHazardCamera_Frame"/>
  </joint>
  <gazebo reference="rightHazardCamera_Offset">
    <implicitSpringDamper>1</implicitSpringDamper>
  </gazebo>
  <link name="leftHazardCamera_Frame">
    <!-- Virtual Link -->
    <inertial>
      <mass value="1e-07"/>
      <origin rpy="0 0 0" xyz="0 0 0"/>
      <inertia ixx="3.33333333333e-22" ixy="0.0" ixz="0.0" iyy="3.33333333333e-22" iyz="0.0" izz="5e-22"/>
    </inertial>
  </link>
  <gazebo reference="leftHazardCamera_Frame">
    <sensor name="leftHazardCamera" type="camera">
      <camera>
        <image>
          <width>1280</width>
          <height>1024</height>
          <format>R8G8B8</format>
        </image>
        <horizontal_fov>1.378</horizontal_fov>
        <clip>
          <near>0.1</near>
          <far>100</far>
        </clip>
      </camera>
      <update_rate>60</update_rate>
    </sensor>
  </gazebo>
  <joint name="leftHazardCamera_Offset" type="fixed">
    <origin rpy="1.57 0.0 1.57" xyz="0.0345 0.0406 0.1135"/>
    <axis xyz="0 0 1"/>
    <parent link="torso"/>
    <child link="leftHazardCamera_Frame"/>
  </joint>
  <gazebo reference="leftHazardCamera_Offset">
    <implicitSpringDamper>1</implicitSpringDamper>
  </gazebo>
  <transmission name="torsoYawTransmission">
    <type>transmission_interface/SimpleTransmission</type>
    <joint name="torsoYaw">
      </joint>
    <actuator name="torsoYaw">
      <node name="/trunk/j1"/>
      <mechanicalReduction>1</mechanicalReduction>
      <api name="TurboDriverDRC_v4"/>
    </actuator>
  </transmission>
  <transmission name="torsoPitchTransmission">
    <type>transmission_interface/SimpleTransmission</type>
    <joint name="torsoPitch">
      </joint>
    <actuator name="waistLeftActuator">
      <node name="/trunk/waist/left_actuator"/>
      <mechanicalReduction>1</mechanicalReduction>
      <api name="TurboDriverDRC_v4"/>
    </actuator>
  </transmission>
  <transmission name="torsoRollTransmission">
    <type>transmission_interface/SimpleTransmission</type>
    <joint name="torsoRoll">
      </joint>
    <actuator name="waistRightActuator">
      <node name="/trunk/waist/right_actuator"/>
      <mechanicalReduction>1</mechanicalReduction>
      <api name="TurboDriverDRC_v4"/>
    </actuator>
  </transmission>
  <transmission name="leftHipYawTransmission">
    <type>transmission_interface/SimpleTransmission</type>
    <joint name="leftHipYaw">
      </joint>
    <actuator name="leftHipYaw">
      <node name="/left_leg/j1"/>
      <mechanicalReduction>1</mechanicalReduction>
      <api name="TurboDriverDRC_v4"/>
    </actuator>
  </transmission>
  <transmission name="leftHipRollTransmission">
    <type>transmission_interface/SimpleTransmission</type>
    <joint name="leftHipRoll">
      </joint>
    <actuator name="leftHipRoll">
      <node name="/left_leg/j2"/>
      <mechanicalReduction>1</mechanicalReduction>
      <api name="TurboDriverDRC_v4"/>
    </actuator>
  </transmission>
  <transmission name="leftHipPitchTransmission">
    <type>transmission_interface/SimpleTransmission</type>
    <joint name="leftHipPitch">
      </joint>
    <actuator name="leftHipPitch">
      <node name="/left_leg/j3"/>
      <mechanicalReduction>1</mechanicalReduction>
      <api name="TurboDriverDRC_v4"/>
    </actuator>
  </transmission>
  <transmission name="leftKneePitchTransmission">
    <type>transmission_interface/SimpleTransmission</type>
    <joint name="leftKneePitch">
      </joint>
    <actuator name="leftKneePitch">
      <node name="/left_leg/j4"/>
      <mechanicalReduction>1</mechanicalReduction>
      <api name="TurboDriverDRC_v4"/>
    </actuator>
  </transmission>
  <transmission name="leftAnklePitchTransmission">
    <type>transmission_interface/SimpleTransmission</type>
    <joint name="leftAnklePitch">
      </joint>
    <actuator name="leftAnkleInsideActuator">
      <node name="/left_leg/ankle/left_actuator"/>
      <mechanicalReduction>1</mechanicalReduction>
      <api name="TurboDriverDRC_v4"/>
    </actuator>
  </transmission>
  <transmission name="leftAnkleRollTransmission">
    <type>transmission_interface/SimpleTransmission</type>
    <joint name="leftAnkleRoll">
      </joint>
    <actuator name="leftAnkleOutsideActuator">
      <node name="/left_leg/ankle/right_actuator"/>
      <mechanicalReduction>1</mechanicalReduction>
      <api name="TurboDriverDRC_v4"/>
    </actuator>
  </transmission>
  <transmission name="rightHipYawTransmission">
    <type>transmission_interface/SimpleTransmission</type>
    <joint name="rightHipYaw">
      </joint>
    <actuator name="rightHipYaw">
      <node name="/right_leg/j1"/>
      <mechanicalReduction>1</mechanicalReduction>
      <api name="TurboDriverDRC_v4"/>
    </actuator>
  </transmission>
  <transmission name="rightHipRollTransmission">
    <type>transmission_interface/SimpleTransmission</type>
    <joint name="rightHipRoll">
      </joint>
    <actuator name="rightHipRoll">
      <node name="/right_leg/j2"/>
      <mechanicalReduction>1</mechanicalReduction>
      <api name="TurboDriverDRC_v4"/>
    </actuator>
  </transmission>
  <transmission name="rightHipPitchTransmission">
    <type>transmission_interface/SimpleTransmission</type>
    <joint name="rightHipPitch">
      </joint>
    <actuator name="rightHipPitch">
      <node name="/right_leg/j3"/>
      <mechanicalReduction>1</mechanicalReduction>
      <api name="TurboDriverDRC_v4"/>
    </actuator>
  </transmission>
  <transmission name="rightKneePitchTransmission">
    <type>transmission_interface/SimpleTransmission</type>
    <joint name="rightKneePitch">
      </joint>
    <actuator name="rightKneePitch">
      <node name="/right_leg/j4"/>
      <mechanicalReduction>1</mechanicalReduction>
      <api name="TurboDriverDRC_v4"/>
    </actuator>
  </transmission>
  <transmission name="rightAnklePitchTransmission">
    <type>transmission_interface/SimpleTransmission</type>
    <joint name="rightAnklePitch">
      </joint>
    <actuator name="rightAnkleInsideActuator">
      <node name="/right_leg/ankle/left_actuator"/>
      <mechanicalReduction>1</mechanicalReduction>
      <api name="TurboDriverDRC_v4"/>
    </actuator>
  </transmission>
  <transmission name="rightAnkleRollTransmission">
    <type>transmission_interface/SimpleTransmission</type>
    <joint name="rightAnkleRoll">
      </joint>
    <actuator name="rightAnkleOutsideActuator">
      <node name="/right_leg/ankle/right_actuator"/>
      <mechanicalReduction>1</mechanicalReduction>
      <api name="TurboDriverDRC_v4"/>
    </actuator>
  </transmission>
  <transmission name="leftShoulderPitchTransmission">
    <type>transmission_interface/SimpleTransmission</type>
    <joint name="leftShoulderPitch">
      </joint>
    <actuator name="leftShoulderPitch">
      <node name="/left_arm/j1"/>
      <mechanicalReduction>1</mechanicalReduction>
      <api name="TurboDriverDRC_v4"/>
    </actuator>
  </transmission>
  <transmission name="leftShoulderRollTransmission">
    <type>transmission_interface/SimpleTransmission</type>
    <joint name="leftShoulderRoll">
      </joint>
    <actuator name="leftShoulderRoll">
      <node name="/left_arm/j2"/>
      <mechanicalReduction>1</mechanicalReduction>
      <api name="TurboDriverDRC_v4"/>
    </actuator>
  </transmission>
  <transmission name="leftShoulderYawTransmission">
    <type>transmission_interface/SimpleTransmission</type>
    <joint name="leftShoulderYaw">
      </joint>
    <actuator name="leftShoulderYaw">
      <node name="/left_arm/j3"/>
      <mechanicalReduction>1</mechanicalReduction>
      <api name="TurboDriverDRC_v4"/>
    </actuator>
  </transmission>
  <transmission name="leftElbowPitchTransmission">
    <type>transmission_interface/SimpleTransmission</type>
    <joint name="leftElbowPitch">
      </joint>
    <actuator name="leftElbowPitch">
      <node name="/left_arm/j4"/>
      <mechanicalReduction>1</mechanicalReduction>
      <api name="TurboDriverDRC_v4"/>
    </actuator>
  </transmission>
  <transmission name="leftForearmYawTransmission">
    <type>transmission_interface/SimpleTransmission</type>
    <joint name="leftForearmYaw">
      </joint>
    <actuator name="leftForearmYaw">
      <node name="/left_arm/j5"/>
      <mechanicalReduction>1</mechanicalReduction>
      <api name="TurboDriverDRC_v4"/>
    </actuator>
  </transmission>
  <transmission name="leftWristRollTransmission">
    <type>transmission_interface/SimpleTransmission</type>
    <joint name="leftWristRoll">
      </joint>
    <actuator name="leftWristTopActuator">
      <node name="/left_arm/wrist/top_actautor"/>
      <mechanicalReduction>1</mechanicalReduction>
      <api name="TurboDriverDRC_v4"/>
    </actuator>
  </transmission>
  <transmission name="leftWristPitchTransmission">
    <type>transmission_interface/SimpleTransmission</type>
    <joint name="leftWristPitch">
      </joint>
    <actuator name="leftWristBottomActuator">
      <node name="/left_arm/wrist/bottom_actuator"/>
      <mechanicalReduction>1</mechanicalReduction>
      <api name="TurboDriverDRC_v4"/>
    </actuator>
  </transmission>
  <transmission name="rightShoulderPitchTransmission">
    <type>transmission_interface/SimpleTransmission</type>
    <joint name="rightShoulderPitch">
      </joint>
    <actuator name="rightShoulderPitch">
      <node name="/right_arm/j1"/>
      <mechanicalReduction>1</mechanicalReduction>
      <api name="TurboDriverDRC_v4"/>
    </actuator>
  </transmission>
  <transmission name="rightShoulderRollTransmission">
    <type>transmission_interface/SimpleTransmission</type>
    <joint name="rightShoulderRoll">
      </joint>
    <actuator name="rightShoulderRoll">
      <node name="/right_arm/j2"/>
      <mechanicalReduction>1</mechanicalReduction>
      <api name="TurboDriverDRC_v4"/>
    </actuator>
  </transmission>
  <transmission name="rightShoulderYawTransmission">
    <type>transmission_interface/SimpleTransmission</type>
    <joint name="rightShoulderYaw">
      </joint>
    <actuator name="rightShoulderYaw">
      <node name="/right_arm/j3"/>
      <mechanicalReduction>1</mechanicalReduction>
      <api name="TurboDriverDRC_v4"/>
    </actuator>
  </transmission>
  <transmission name="rightElbowPitchTransmission">
    <type>transmission_interface/SimpleTransmission</type>
    <joint name="rightElbowPitch">
      </joint>
    <actuator name="rightElbowPitch">
      <node name="/right_arm/j4"/>
      <mechanicalReduction>1</mechanicalReduction>
      <api name="TurboDriverDRC_v4"/>
    </actuator>
  </transmission>
  <transmission name="rightForearmYawTransmission">
    <type>transmission_interface/SimpleTransmission</type>
    <joint name="rightForearmYaw">
      </joint>
    <actuator name="rightForearmYaw">
      <node name="/right_arm/j5"/>
      <mechanicalReduction>1</mechanicalReduction>
      <api name="TurboDriverDRC_v4"/>
    </actuator>
  </transmission>
  <transmission name="rightWristRollTransmission">
    <type>transmission_interface/SimpleTransmission</type>
    <joint name="rightWristRoll">
      </joint>
    <actuator name="rightWristTopActuator">
      <node name="/right_arm/wrist/top_actautor"/>
      <mechanicalReduction>1</mechanicalReduction>
      <api name="TurboDriverDRC_v4"/>
    </actuator>
  </transmission>
  <transmission name="rightWristPitchTransmission">
    <type>transmission_interface/SimpleTransmission</type>
    <joint name="rightWristPitch">
      </joint>
    <actuator name="rightWristBottomActuator">
      <node name="/right_arm/wrist/bottom_actuator"/>
      <mechanicalReduction>1</mechanicalReduction>
      <api name="TurboDriverDRC_v4"/>
    </actuator>
  </transmission>
  <transmission name="lowerNeckPitchTransmission">
    <type>transmission_interface/SimpleTransmission</type>
    <joint name="lowerNeckPitch">
      </joint>
    <actuator name="lowerNeckPitch">
      <node name="/neck/j1"/>
      <mechanicalReduction>1</mechanicalReduction>
      <api name="TurboDriverDRC_v4"/>
    </actuator>
  </transmission>
<!--
  <transmission name="neckYawTransmission">
    <type>transmission_interface/SimpleTransmission</type>
    <joint name="neckYaw">
      </joint>
    <actuator name="neckYaw">
      <node name="/neck/j2"/>
      <mechanicalReduction>1</mechanicalReduction>
      <api name="TurboDriverDRC_v4"/>
    </actuator>
  </transmission>
-->
<!--
  <transmission name="upperNeckPitchTransmission">
    <type>transmission_interface/SimpleTransmission</type>
    <joint name="upperNeckPitch">
      </joint>
    <actuator name="upperNeckPitch">
      <node name="/neck/j3"/>
      <mechanicalReduction>1</mechanicalReduction>
      <api name="TurboDriverDRC_v4"/>
    </actuator>
  </transmission>
-->
  <!-- Head Link Simple Collision Meshes -->
  <link name="head">
    <inertial>
      <origin rpy="0 0 0" xyz="-0.075493 3.3383E-05 0.02774"/>
      <mass value="1.41984"/>
      <inertia ixx="0.0039688" ixy="-1.5797E-06" ixz="-0.00089293" iyy="0.0041178" iyz="-6.8415E-07" izz="0.0035243"/>
    </inertial>
    <!--     <visual>
      <origin xyz="0 0 0" rpy="0 0 0" />
      <geometry>
        <mesh filename="valkyrie_head.stl" />
      </geometry>
      <material name="">
        <color rgba="0.9098 0.44314 0.031373 1" />
      </material>
    </visual> -->
    <collision>
      <origin rpy="0 0 0" xyz="-0.0503 0 -0.00195"/>
      <geometry>
        <box size="0.1311 0.12 0.0591"/>
      </geometry>
    </collision>
    <collision>
      <origin rpy="0 0 0" xyz="-0.093 0 0.0868"/>
      <geometry>
        <box size="0.0468 0.12 0.1184"/>
      </geometry>
    </collision>
  </link>
  <link name="hokuyo_link">
    <inertial>
      <origin rpy="0 0 0" xyz="0.032428 0.0004084 -0.0041835"/>
      <mass value="0.057654"/>
      <inertia ixx="3.7174E-05" ixy="4.9927E-08" ixz="1.1015E-05" iyy="4.2412E-05" iyz="-9.8165E-09" izz="4.167E-05"/>
    </inertial>
    <visual>
      <!--origin xyz="0.065774 -0.001163 -0.08809" rpy="0 0 0" /-->
      <!--origin xyz="0.045 -0.001163 -0.08809" rpy="-0.314 0 0" /-->
      <origin rpy="-0.314 0 0" xyz="0.045 -0.0261018277 -0.08342369"/>
      <geometry>
        <mesh filename="valkyrie_head_camera.stl"/>
      </geometry>
      <material name="">
        <color rgba="0.72941 0.35686 0.023529 1"/>
      </material>
    </visual>
    <collision>
      <origin rpy="0 0 0" xyz="0.01885 0 -0.02119"/>
      <geometry>
        <box size="0.08 0.06 0.04238"/>
      </geometry>
    </collision>
    <collision>
      <origin rpy="0 0 0" xyz="0.03 0 0.0235"/>
      <geometry>
        <cylinder length="0.047" radius="0.024425"/>
      </geometry>
    </collision>
  </link>
  <gazebo reference="head">
    <mu1>0.9</mu1>
    <mu2>0.9</mu2>
  </gazebo>
  <gazebo reference="hokuyo_link">
    <mu1>0.9</mu1>
    <mu2>0.9</mu2>
  </gazebo>
  <joint name="hokuyo_joint" type="fixed">
    <origin rpy="0 0 0" xyz="-0.0446 0 0.0880"/>
    <parent link="head"/>
    <child link="hokuyo_link"/>
    <axis xyz="1 0 0"/>
    <dynamics damping="0.01" friction="0"/>
  </joint>
  <gazebo reference="hokuyo_joint">
    <implicitSpringDamper>1</implicitSpringDamper>
  </gazebo>
  <!-- Hokuyo Laser -->
  <joint name="head_hokuyo_joint" type="fixed">
    <axis xyz="0 1 0"/>
    <origin rpy="0 0 0" xyz="0.03 0 0.015"/>
    <parent link="hokuyo_link"/>
    <child link="head_hokuyo_frame"/>
  </joint>
  <link name="head_hokuyo_frame">
    <inertial>
      <mass value="1e-5"/>
      <!-- collocate with parent link and remove mass from it -->
      <origin rpy="0 0 0" xyz="0.042428 0.0004084 0.0108165"/>
      <inertia ixx="1e-6" ixy="0" ixz="0" iyy="1e-6" iyz="0" izz="1e-6"/>
    </inertial>
  </link>
  <gazebo reference="head_hokuyo_frame">
    <sensor name="head_hokuyo_sensor" type="gpu_ray">
      <pose>0 0 0 0 0 0</pose>
      <visualize>false</visualize>
      <update_rate>40</update_rate>
      <ray>
        <scan>
          <horizontal>
            <samples>1081</samples>
            <resolution>1</resolution>
            <min_angle>-2.356194</min_angle>
            <max_angle>2.356194</max_angle>
          </horizontal>
        </scan>
        <range>
          <min>0.10</min>
          <max>30.0</max>
          <resolution>0.01</resolution>
        </range>
        <noise>
          <type>gaussian</type>
          <!-- Noise parameters based on published spec for Hokuyo laser
               achieving "+-30mm" accuracy at range < 10m.  A mean of 0.0m and
               stddev of 0.01m will put 99.7% of samples within 0.03m of the true
               reading. -->
          <mean>0.0</mean>
          <stddev>0.01</stddev>
        </noise>
      </ray>
    </sensor>
  </gazebo>
  <!-- Stereo Camera -->
  <joint name="left_camera_frame_joint" type="fixed">
    <!-- optical frame collocated with tilting DOF -->
    <origin xyz="0.0 0.035 -0.002"/>
    <parent link="head"/>
    <child link="left_camera_frame"/>
  </joint>
  <link name="left_camera_frame">
    <inertial>
      <mass value="1e-5"/>
      <!-- collocate with parent link and remove mass from it -->
      <origin xyz="-0.075493 0.035033383 0.02574"/>
      <inertia ixx="1e-6" ixy="0" ixz="0" iyy="1e-6" iyz="0" izz="1e-6"/>
    </inertial>
  </link>
  <joint name="left_camera_optical_frame_joint" type="fixed">
    <origin rpy="-1.5708 0.0 -1.5708" xyz="0 0 0"/>
    <parent link="left_camera_frame"/>
    <child link="left_camera_optical_frame"/>
  </joint>
  <link name="left_camera_optical_frame"/>
  <gazebo reference="left_camera_frame">
    <sensor name="stereo_camera" type="multicamera">
      <!-- see MultiSenseSLPlugin.h for available modes -->
      <update_rate>10.0</update_rate>
      <camera name="left">
        <!-- Spec sheet says 80deg X 45deg @ 1024x544pix.  Based on feedback
             from teams, we're instead doing 80deg X 80deg @ 800x800pix. -->
        <horizontal_fov>1.3962634</horizontal_fov>
        <image>
          <width>1024</width>
          <height>544</height>
          <format>R8G8B8</format>
        </image>
        <clip>
          <near>0.02</near>
          <far>300</far>
        </clip>
        <noise>
          <type>gaussian</type>
          <!-- Noise is sampled independently per pixel on each frame.
               That pixel's noise value is added to each of its color
               channels, which at that point lie in the range [0,1].
               The stddev value of 0.007 is based on experimental data
               from a camera in a Sandia hand pointed at a static scene
               in a couple of different lighting conditions.  -->
          <mean>0.0</mean>
          <stddev>0.007</stddev>
        </noise>
      </camera>
      <camera name="right">
        <pose>0 -0.07 0 0 0 0</pose>
        <!-- Spec sheet says 80deg X 45deg @ 1024x544pix. -->
        <horizontal_fov>1.3962634</horizontal_fov>
        <image>
          <width>1024</width>
          <height>544</height>
          <format>R8G8B8</format>
        </image>
        <clip>
          <near>0.02</near>
          <far>300</far>
        </clip>
        <noise>
          <type>gaussian</type>
          <!-- Noise is sampled independently per pixel on each frame.
               That pixel's noise value is added to each of its color
               channels, which at that point lie in the range [0,1].
               The stddev value of 0.007 is based on experimental data
               from a camera in a Sandia hand pointed at a static scene
               in a couple of different lighting conditions.  -->
          <mean>0.0</mean>
          <stddev>0.007</stddev>
        </noise>
      </camera>
    </sensor>
  </gazebo>
  <joint name="right_camera_frame_joint" type="fixed">
    <origin xyz="0.0 -0.035 -0.002"/>
    <parent link="head"/>
    <child link="right_camera_frame"/>
  </joint>
  <link name="right_camera_frame">
    <inertial>
      <mass value="1e-5"/>
      <!-- collocate with parent link and remove mass from it -->
      <origin xyz="-0.075493 -0.034966617 0.02574"/>
      <inertia ixx="1e-6" ixy="0" ixz="0" iyy="1e-6" iyz="0" izz="1e-6"/>
    </inertial>
  </link>
  <joint name="right_camera_optical_frame_joint" type="fixed">
    <origin rpy="-1.5708 0.0 -1.5708" xyz="0 0 0"/>
    <parent link="right_camera_frame"/>
    <child link="right_camera_optical_frame"/>
  </joint>
  <link name="right_camera_optical_frame"/>
  <joint name="center_top_led_frame_joint" type="fixed">
    <origin xyz="0.01125 0.0 0.0105"/>
    <parent link="head"/>
    <child link="center_top_led_frame"/>
  </joint>
  <link name="center_top_led_frame">
    <inertial>
      <mass value="1e-5"/>
      <!-- collocate with parent link and remove mass from it -->
      <origin rpy="0 0 0" xyz="-0.064243 0.000033383 0.03824"/>
      <inertia ixx="1e-6" ixy="0" ixz="0" iyy="1e-6" iyz="0" izz="1e-6"/>
    </inertial>
  </link>
  <joint name="center_bottom_led_frame_joint" type="fixed">
    <origin xyz="0.01125 0.0 -0.0155"/>
    <parent link="head"/>
    <child link="center_bottom_led_frame"/>
  </joint>
  <link name="center_bottom_led_frame">
    <inertial>
      <mass value="1e-5"/>
      <!-- collocate with parent link and remove mass from it -->
      <origin rpy="0 0 0" xyz="-0.064243 0.000033383 0.01224"/>
      <inertia ixx="1e-6" ixy="0" ixz="0" iyy="1e-6" iyz="0" izz="1e-6"/>
    </inertial>
  </link>
  <joint name="left_led_frame_joint" type="fixed">
    <origin rpy="0 -0.15 0.53" xyz="-0.01443 0.07452 0.050346"/>
    <parent link="head"/>
    <child link="left_led_frame"/>
  </joint>
  <link name="left_led_frame">
    <inertial>
      <mass value="1e-5"/>
      <!-- collocate with parent link and remove mass from it -->
      <origin rpy="0 -0.15 0.53" xyz="-0.089923 0.074553383 0.078086"/>
      <inertia ixx="1e-6" ixy="0" ixz="0" iyy="1e-6" iyz="0" izz="1e-6"/>
    </inertial>
  </link>
  <joint name="right_led_frame_joint" type="fixed">
    <origin rpy="0 -0.15 -0.53" xyz="-0.01443 -0.07452 0.050346"/>
    <parent link="head"/>
    <child link="right_led_frame"/>
  </joint>
  <link name="right_led_frame">
    <inertial>
      <mass value="1e-5"/>
      <!-- collocate with parent link and remove mass from it -->
      <origin rpy="0 -0.15 -0.53" xyz="-0.089923 -0.074486617 0.07908"/>
      <inertia ixx="1e-6" ixy="0" ixz="0" iyy="1e-6" iyz="0" izz="1e-6"/>
    </inertial>
  </link>
  <!-- imu link -->
  <link name="head_imu_link">
    <inertial>
      <mass value="1e-5"/>
      <!-- collocate with parent link and remove mass from it -->
      <origin rpy="0 0 0" xyz="-0.122993 0.035033383 0.02774"/>
      <inertia ixx="1e-6" ixy="0" ixz="0" iyy="1e-6" iyz="0" izz="1e-6"/>
    </inertial>
    <visual>
      <origin rpy="0 0 0" xyz="0 0 0"/>
      <geometry>
        <box size="0.01 0.01 0.01"/>
      </geometry>
    </visual>
  </link>
  <joint name="head_imu_joint" type="fixed">
    <parent link="head"/>
    <child link="head_imu_link"/>
    <!-- putting it at the same z-level as the stereo -->
    <origin rpy="0 0 0" xyz="-0.0475 0.035 0.0"/>
  </joint>
  <gazebo reference="head_imu_link">
    <!-- this is expected to be reparented to head with appropriate offset
         when head_imu_link is reduced by fixed joint reduction -->
    <!-- todo: this is working with gazebo 1.4, need to write a unit test -->
    <sensor name="head_imu_sensor" type="imu">
      <always_on>1</always_on>
      <update_rate>1000.0</update_rate>
      <imu>
        <noise>
          <type>gaussian</type>
          <!-- Noise parameters from Boston Dynamics
               (http://gazebosim.org/wiki/Sensor_noise):
                 rates (rad/s): mean=0, stddev=2e-4
                 accels (m/s/s): mean=0, stddev=1.7e-2
                 rate bias (rad/s): 5e-6 - 1e-5
                 accel bias (m/s/s): 1e-1
               Experimentally, simulation provide rates with noise of
               about 1e-3 rad/s and accels with noise of about 1e-1 m/s/s.
               So we don't expect to see the noise unless number of inner iterations
               are increased.

               We will add bias.  In this model, bias is sampled once for rates
               and once for accels at startup; the sign (negative or positive)
               of each bias is then switched with equal probability.  Thereafter,
               the biases are fixed additive offsets.  We choose
               bias means and stddevs to produce biases close to the provided
               data. -->
          <rate>
            <mean>0.0</mean>
            <stddev>2e-4</stddev>
            <bias_mean>0.0000075</bias_mean>
            <bias_stddev>0.0000008</bias_stddev>
          </rate>
          <accel>
            <mean>0.0</mean>
            <stddev>1.7e-2</stddev>
            <bias_mean>0.1</bias_mean>
            <bias_stddev>0.001</bias_stddev>
          </accel>
        </noise>
      </imu>
    </sensor>
  </gazebo>
  <!-- drake feet mods-->
  <frame link="leftFoot" name="l_foot_sole" rpy="0 0 0" xyz="0.067  0 -0.09"/>
  <frame link="rightFoot" name="r_foot_sole" rpy="0 0 0" xyz="0.067 0 -0.09"/>
  <frame link="leftFoot" name="l_foot_toe" rpy="0 0 0" xyz="0.172  0 -0.09"/>
  <frame link="rightFoot" name="r_foot_toe" rpy="0 0 0" xyz="0.172 0 -0.09"/>
  <!-- end drake feet mods-->
  <!-- drake left hand frames-->
  <link name="l_hand_force_torque">
    <inertial>
      <mass value="0.001"/>
      <origin xyz="0 0 0"/>
      <inertia ixx="0.00001" ixy="0" ixz="0" iyy="0.00001" iyz="0" izz="0.00001"/>
    </inertial>
    <visual>
      <origin rpy="0 0 0" xyz="0 0 0"/>
      <geometry>
        <box size="0.01 0.01 0.01"/>
      </geometry>
    </visual>
  </link>
  <joint name="l_hand_force_torque_joint" type="fixed">
    <origin rpy="-1.57079632679 0 1.57079632679" xyz="0 0 0"/>
    <parent link="leftPalm"/>
    <child link="l_hand_force_torque"/>
  </joint>
  <link name="left_palm">
    <inertial>
      <mass value="0.001"/>
      <origin xyz="0 0 0"/>
      <inertia ixx="0.00001" ixy="0" ixz="0" iyy="0.00001" iyz="0" izz="0.00001"/>
    </inertial>
    <visual>
      <origin rpy="0 0 0" xyz="0 0 0"/>
      <geometry>
        <box size="0.01 0.01 0.01"/>
      </geometry>
    </visual>
  </link>
  <joint name="left_valkyrie_hand_joint" type="fixed">
    <origin rpy="1.57079632679 1.57079632679 0" xyz="0.08 0 0"/>
    <parent link="l_hand_force_torque"/>
    <child link="left_palm"/>
  </joint>
  <link name="l_hand_face">
    <inertial>
      <mass value="0.001"/>
      <origin xyz="0 0 0"/>
      <inertia ixx="0.00001" ixy="0" ixz="0" iyy="0.00001" iyz="0" izz="0.00001"/>
    </inertial>
  </link>
  <joint name="l_hand_face_joint" type="fixed">
    <origin rpy="3.14159265359 0 1.57079632679" xyz="0.07 0.0 -0.08"/>
    <parent link="l_hand_force_torque"/>
    <child link="l_hand_face"/>
  </joint>
  <!-- end drake left hand frames-->
  <!-- drake right hand frames-->
  <link name="r_hand_force_torque">
    <inertial>
      <mass value="0.001"/>
      <origin xyz="0 0 0"/>
      <inertia ixx="0.00001" ixy="0" ixz="0" iyy="0.00001" iyz="0" izz="0.00001"/>
    </inertial>
    <visual>
      <origin rpy="0 0 0" xyz="0 0 0"/>
      <geometry>
        <box size="0.01 0.01 0.01"/>
      </geometry>
    </visual>
  </link>
  <joint name="r_hand_force_torque_joint" type="fixed">
    <origin rpy="-1.57079632679 0 -1.57079632679" xyz="0 0 0"/>
    <parent link="rightPalm"/>
    <child link="r_hand_force_torque"/>
  </joint>
  <link name="right_palm">
    <inertial>
      <mass value="0.001"/>
      <origin xyz="0 0 0"/>
      <inertia ixx="0.00001" ixy="0" ixz="0" iyy="0.00001" iyz="0" izz="0.00001"/>
    </inertial>
    <visual>
      <origin rpy="0 0 0" xyz="0 0 0"/>
      <geometry>
        <box size="0.01 0.01 0.01"/>
      </geometry>
    </visual>
  </link>
  <joint name="right_valkyrie_hand_joint" type="fixed">
    <origin rpy="0 -1.57079632679 -1.57079632679" xyz="0.08 0 0"/>
    <parent link="r_hand_force_torque"/>
    <child link="right_palm"/>
  </joint>
  <link name="r_hand_face">
    <inertial>
      <mass value="0.001"/>
      <origin xyz="0 0 0"/>
      <inertia ixx="0.00001" ixy="0" ixz="0" iyy="0.00001" iyz="0" izz="0.00001"/>
    </inertial>
  </link>
  <joint name="r_hand_face_joint" type="fixed">
    <origin rpy="0 0 -1.57079632679" xyz="0.07 0 0.08"/>
    <parent link="r_hand_force_torque"/>
    <child link="r_hand_face"/>
  </joint>
  <!-- end drake right hand frames-->
  <!-- drake collision free groups-->
  <collision_filter_group name="feet">
    <member link="leftFoot"/>
    <member link="rightFoot"/>
    <ignored_collision_filter_group collision_filter_group="feet"/>
  </collision_filter_group>
  <collision_filter_group name="core">
    <member link="torso"/>
    <member link="torsoYawLink"/>
    <member link="torsoPitchLink"/>
    <member link="pelvis"/>
    <member link="lowerNeckPitchLink"/>
    <member link="neckYawLink"/>
    <member link="upperNeckPitchLink"/>
    <member link="head"/>
    <ignored_collision_filter_group collision_filter_group="core"/>
  </collision_filter_group>
  <collision_filter_group name="ignore_core">
    <member link="rightShoulderRollLink"/>
    <member link="leftShoulderRollLink"/>
    <member link="rightShoulderPitchLink"/>
    <member link="leftShoulderPitchLink"/>
    <ignored_collision_filter_group collision_filter_group="core"/>
  </collision_filter_group>
  <collision_filter_group name="r_uleg">
    <member link="rightHipYawLink"/>
    <member link="rightHipRollLink"/>
    <member link="rightHipPitchLink"/>
    <ignored_collision_filter_group collision_filter_group="core"/>
    <ignored_collision_filter_group collision_filter_group="r_uleg"/>
    <ignored_collision_filter_group collision_filter_group="l_uleg"/>
  </collision_filter_group>
  <collision_filter_group name="l_uleg">
    <member link="leftHipYawLink"/>
    <member link="leftHipRollLink"/>
    <member link="leftHipPitchLink"/>
    <ignored_collision_filter_group collision_filter_group="core"/>
    <ignored_collision_filter_group collision_filter_group="r_uleg"/>
    <ignored_collision_filter_group collision_filter_group="l_uleg"/>
  </collision_filter_group>
  <collision_filter_group name="r_leg">
    <member link="rightKneePitchLink"/>
    <member link="rightAnklePitchLink"/>
    <member link="rightFoot"/>
    <ignored_collision_filter_group collision_filter_group="r_leg"/>
    <ignored_collision_filter_group collision_filter_group="r_uleg"/>
  </collision_filter_group>
  <collision_filter_group name="l_leg">
    <member link="leftKneePitchLink"/>
    <member link="leftAnklePitchLink"/>
    <member link="leftFoot"/>
    <ignored_collision_filter_group collision_filter_group="l_leg"/>
    <ignored_collision_filter_group collision_filter_group="l_uleg"/>
  </collision_filter_group>
  <collision_filter_group name="r_arm">
    <member link="rightShoulderPitchLink"/>
    <member link="rightShoulderRollLink"/>
    <member link="rightShoulderYawLink"/>
    <member link="rightElbowPitchLink"/>
    <member link="rightForearmLink"/>
    <member link="rightWristRollLink"/>
    <member link="rightPalm"/>
    <ignored_collision_filter_group collision_filter_group="r_arm"/>
  </collision_filter_group>
  <collision_filter_group name="l_arm">
    <member link="leftShoulderPitchLink"/>
    <member link="leftShoulderRollLink"/>
    <member link="leftShoulderYawLink"/>
    <member link="leftElbowPitchLink"/>
    <member link="leftForearmLink"/>
    <member link="leftWristRollLink"/>
    <member link="leftPalm"/>
    <ignored_collision_filter_group collision_filter_group="l_arm"/>
  </collision_filter_group>
  <!-- end drake collision free groups-->
</robot>
